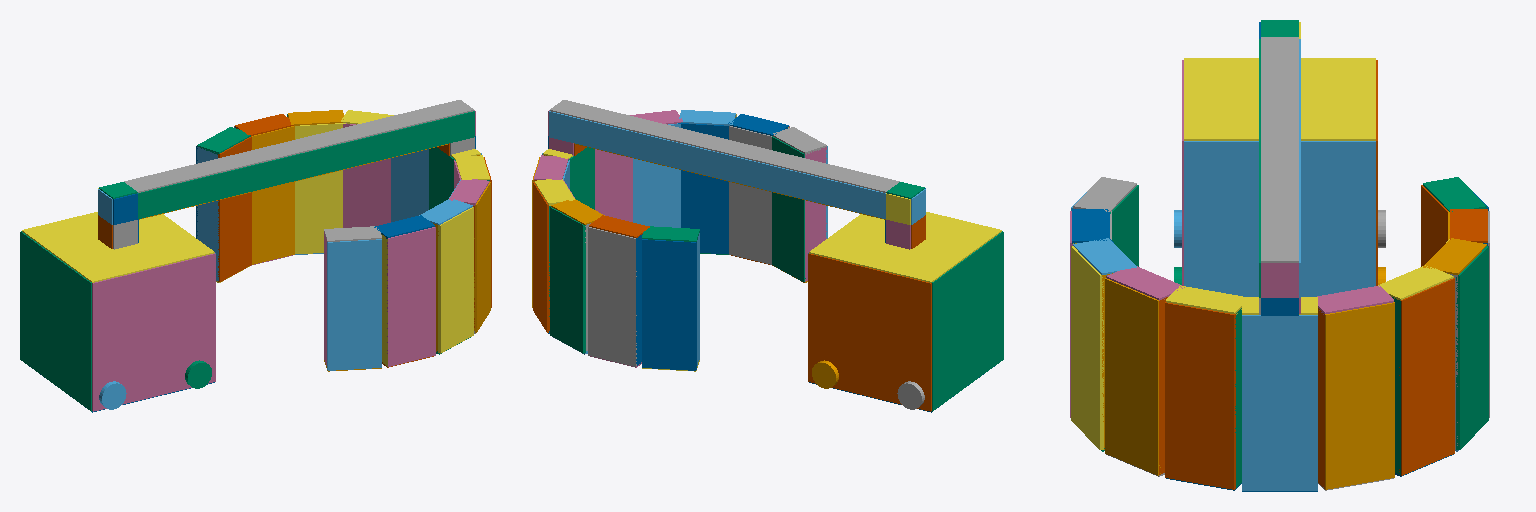
--- Facts derived from the render (not from the file) ---
Views: 3 orthographic renders of the robot side by side, from view 1: azimuth 30°, elevation 25°; view 2: azimuth 150°, elevation 25°; view 3: azimuth 270°, elevation 25°.
Model robot with 109 links and 108 joints (2 continuous, 106 fixed), rooted at body, posed all joints at 0.
Links seen in each view (by area): view 1: body_sensor_0_right, body_sensor_0_stop, arm_sensor_0_right, hand_part_11_sensor_0_left, body_sensor_0_top, hand_part_12_sensor_0_left, arm_sensor_0_top, hand_part_13_sensor_0_left, hand_part_4_sensor_0_right, hand_part_3_sensor_0_right, hand_part_2_sensor_0_right, hand_part_5_sensor_0_right (+17 smaller); view 2: body_sensor_0_left, body_sensor_0_stop, arm_sensor_0_left, hand_part_5_sensor_0_left, body_sensor_0_top, hand_part_4_sensor_0_left, arm_sensor_0_top, hand_part_3_sensor_0_left, hand_part_12_sensor_0_right, hand_part_13_sensor_0_right, hand_part_14_sensor_0_right, hand_part_11_sensor_0_right (+17 smaller); view 3: body_sensor_0_start, hand_part_0_sensor_0_start, hand_part_15_sensor_0_left, body_sensor_0_top, hand_part_1_sensor_0_left, hand_part_2_sensor_0_left, hand_part_14_sensor_0_left, arm_sensor_0_top, hand_part_3_sensor_0_left, hand_part_13_sensor_0_left, hand_part_11_sensor_0_right, hand_part_5_sensor_0_right (+18 smaller).
Boxes of the visible links, bbox=[...] form: body_sensor_0_right: bbox=[92, 253, 215, 411]; body_sensor_0_stop: bbox=[20, 231, 91, 411]; arm_sensor_0_right: bbox=[138, 111, 474, 218]; hand_part_11_sensor_0_left: bbox=[327, 239, 381, 370]; body_sensor_0_top: bbox=[22, 212, 214, 282]; hand_part_12_sensor_0_left: bbox=[387, 227, 435, 366]; arm_sensor_0_top: bbox=[124, 100, 473, 192]; hand_part_13_sensor_0_left: bbox=[438, 207, 473, 353]; hand_part_4_sensor_0_right: bbox=[252, 126, 294, 264]; hand_part_3_sensor_0_right: bbox=[295, 123, 345, 253]; hand_part_2_sensor_0_right: bbox=[343, 123, 390, 227]; hand_part_5_sensor_0_right: bbox=[218, 136, 251, 281]; body_sensor_0_left: bbox=[808, 253, 931, 411]; body_sensor_0_stop: bbox=[932, 231, 1003, 411]; arm_sensor_0_left: bbox=[549, 111, 885, 218]; hand_part_5_sensor_0_left: bbox=[642, 239, 696, 370]; body_sensor_0_top: bbox=[809, 212, 1001, 282]; hand_part_4_sensor_0_left: bbox=[588, 227, 636, 366]; arm_sensor_0_top: bbox=[550, 100, 899, 192]; hand_part_3_sensor_0_left: bbox=[550, 207, 585, 353]; hand_part_12_sensor_0_right: bbox=[729, 126, 771, 264]; hand_part_13_sensor_0_right: bbox=[678, 123, 728, 253]; hand_part_14_sensor_0_right: bbox=[633, 123, 680, 227]; hand_part_11_sensor_0_right: bbox=[772, 136, 805, 281]; body_sensor_0_start: bbox=[1184, 141, 1375, 296]; hand_part_0_sensor_0_start: bbox=[1242, 315, 1317, 490]; hand_part_15_sensor_0_left: bbox=[1165, 302, 1235, 489]; body_sensor_0_top: bbox=[1184, 58, 1375, 140]; hand_part_1_sensor_0_left: bbox=[1325, 302, 1394, 489]; hand_part_2_sensor_0_left: bbox=[1399, 278, 1454, 475]; hand_part_14_sensor_0_left: bbox=[1105, 278, 1160, 475]; arm_sensor_0_top: bbox=[1261, 37, 1298, 262]; hand_part_3_sensor_0_left: bbox=[1456, 246, 1488, 449]; hand_part_13_sensor_0_left: bbox=[1071, 246, 1103, 449]; hand_part_11_sensor_0_right: bbox=[1110, 185, 1138, 266]; hand_part_5_sensor_0_right: bbox=[1421, 185, 1447, 266].
Bounding box of the posed robot: 3.37 × 2.18 × 1.42 m (x, y, z).
Geometry: primitives only (box / cylinder / sphere), no mesh files.

URDF robot description (robot):
<?xml version="1.0"?>
    <robot name="robot">


    <!-- body -->
    <link name="body">
        <inertial>
            <origin xyz="0 0 0" rpy="0 0 0"/>
            <mass value="100"/>
            <inertia ixx=".1" ixy=".1" ixz=".1" iyy=".1" iyz=".1" izz=".1"/>
        </inertial>
        <visual>
            <origin xyz="0 0 0" rpy="0 0 0"/>
            <geometry>
                <box size="1 1 1"/>
            </geometry>
        </visual>
        <collision>
            <origin xyz="0 0 0" rpy="0 0 0"/>
            <geometry>
                <box size="1 1 1"/>
            </geometry>
        </collision>
    </link>


    <!-- body_sensor_0_start -->
    <link name="body_sensor_0_start">
        <inertial>
            <origin xyz="0 0 0" rpy="0 0 0"/>
            <mass value="0"/>
            <inertia ixx=".1" ixy=".1" ixz=".1" iyy=".1" iyz=".1" izz=".1"/>
        </inertial>
        <visual>
            <origin xyz="0 0 0" rpy="0 0 0"/>
            <geometry>
                <box size="0.02 1 1"/>
            </geometry>
        </visual>
        <collision>
            <origin xyz="0 0 0" rpy="0 0 0"/>
            <geometry>
                <box size="0.02 1 1"/>
            </geometry>
        </collision>
    </link>
    <!-- Joint: body, body_sensor_0_start -->
    <joint name="body_body_sensor_0_start_joint" type="fixed">
        <parent link="body"/>
        <child link="body_sensor_0_start"/>
        <origin xyz="0.5 0 0"
                rpy="0 0 0"/>
        <axis xyz="0 0 1"/>
        
    </joint>


    <!-- body_sensor_0_stop -->
    <link name="body_sensor_0_stop">
        <inertial>
            <origin xyz="0 0 0" rpy="0 0 0"/>
            <mass value="0"/>
            <inertia ixx=".1" ixy=".1" ixz=".1" iyy=".1" iyz=".1" izz=".1"/>
        </inertial>
        <visual>
            <origin xyz="0 0 0" rpy="0 0 0"/>
            <geometry>
                <box size="0.02 1 1"/>
            </geometry>
        </visual>
        <collision>
            <origin xyz="0 0 0" rpy="0 0 0"/>
            <geometry>
                <box size="0.02 1 1"/>
            </geometry>
        </collision>
    </link>
    <!-- Joint: body, body_sensor_0_stop -->
    <joint name="body_body_sensor_0_stop_joint" type="fixed">
        <parent link="body"/>
        <child link="body_sensor_0_stop"/>
        <origin xyz="-0.5 0 0"
                rpy="0 0 0"/>
        <axis xyz="0 0 1"/>
        
    </joint>


    <!-- body_sensor_0_top -->
    <link name="body_sensor_0_top">
        <inertial>
            <origin xyz="0 0 0" rpy="0 0 0"/>
            <mass value="0"/>
            <inertia ixx=".1" ixy=".1" ixz=".1" iyy=".1" iyz=".1" izz=".1"/>
        </inertial>
        <visual>
            <origin xyz="0 0 0" rpy="0 0 0"/>
            <geometry>
                <box size="1.0 1 0.02"/>
            </geometry>
        </visual>
        <collision>
            <origin xyz="0 0 0" rpy="0 0 0"/>
            <geometry>
                <box size="1.0 1 0.02"/>
            </geometry>
        </collision>
    </link>
    <!-- Joint: body, body_sensor_0_top -->
    <joint name="body_body_sensor_0_top_joint" type="fixed">
        <parent link="body"/>
        <child link="body_sensor_0_top"/>
        <origin xyz="0 0 0.5"
                rpy="0 0 0"/>
        <axis xyz="0 0 1"/>
        
    </joint>


    <!-- body_sensor_0_bottom -->
    <link name="body_sensor_0_bottom">
        <inertial>
            <origin xyz="0 0 0" rpy="0 0 0"/>
            <mass value="0"/>
            <inertia ixx=".1" ixy=".1" ixz=".1" iyy=".1" iyz=".1" izz=".1"/>
        </inertial>
        <visual>
            <origin xyz="0 0 0" rpy="0 0 0"/>
            <geometry>
                <box size="1.0 1 0.02"/>
            </geometry>
        </visual>
        <collision>
            <origin xyz="0 0 0" rpy="0 0 0"/>
            <geometry>
                <box size="1.0 1 0.02"/>
            </geometry>
        </collision>
    </link>
    <!-- Joint: body, body_sensor_0_bottom -->
    <joint name="body_body_sensor_0_bottom_joint" type="fixed">
        <parent link="body"/>
        <child link="body_sensor_0_bottom"/>
        <origin xyz="0 0 -0.5"
                rpy="0 0 0"/>
        <axis xyz="0 0 1"/>
        
    </joint>


    <!-- body_sensor_0_left -->
    <link name="body_sensor_0_left">
        <inertial>
            <origin xyz="0 0 0" rpy="0 0 0"/>
            <mass value="0"/>
            <inertia ixx=".1" ixy=".1" ixz=".1" iyy=".1" iyz=".1" izz=".1"/>
        </inertial>
        <visual>
            <origin xyz="0 0 0" rpy="0 0 0"/>
            <geometry>
                <box size="1.0 0.02 1"/>
            </geometry>
        </visual>
        <collision>
            <origin xyz="0 0 0" rpy="0 0 0"/>
            <geometry>
                <box size="1.0 0.02 1"/>
            </geometry>
        </collision>
    </link>
    <!-- Joint: body, body_sensor_0_left -->
    <joint name="body_body_sensor_0_left_joint" type="fixed">
        <parent link="body"/>
        <child link="body_sensor_0_left"/>
        <origin xyz="0 0.5 0"
                rpy="0 0 0"/>
        <axis xyz="0 0 1"/>
        
    </joint>


    <!-- body_sensor_0_right -->
    <link name="body_sensor_0_right">
        <inertial>
            <origin xyz="0 0 0" rpy="0 0 0"/>
            <mass value="0"/>
            <inertia ixx=".1" ixy=".1" ixz=".1" iyy=".1" iyz=".1" izz=".1"/>
        </inertial>
        <visual>
            <origin xyz="0 0 0" rpy="0 0 0"/>
            <geometry>
                <box size="1.0 0.02 1"/>
            </geometry>
        </visual>
        <collision>
            <origin xyz="0 0 0" rpy="0 0 0"/>
            <geometry>
                <box size="1.0 0.02 1"/>
            </geometry>
        </collision>
    </link>
    <!-- Joint: body, body_sensor_0_right -->
    <joint name="body_body_sensor_0_right_joint" type="fixed">
        <parent link="body"/>
        <child link="body_sensor_0_right"/>
        <origin xyz="0 -0.5 0"
                rpy="0 0 0"/>
        <axis xyz="0 0 1"/>
        
    </joint>


    <!-- back_left_wheel -->
    <link name="back_left_wheel">
        <inertial>
            <origin xyz="0 0 0" rpy="0 0 0"/>
            <mass value="0.1"/>
            <inertia ixx=".1" ixy=".1" ixz=".1" iyy=".1" iyz=".1" izz=".1"/>
        </inertial>
        <visual>
            <origin xyz="0 0 0" rpy="0 0 0"/>
            <geometry>
                <cylinder radius="0.1" length="0.1"/>
            </geometry>
        </visual>
        <collision>
            <origin xyz="0 0 0" rpy="0 0 0"/>
            <geometry>
                <cylinder radius="0.1" length="0.1"/>
            </geometry>
        </collision>
    </link>
    <!-- Joint: body, back_left_wheel -->
    <joint name="body_back_left_wheel_joint" type="fixed">
        <parent link="body"/>
        <child link="back_left_wheel"/>
        <origin xyz="-0.35 0.5 -0.4"
                rpy="1.5708 0 0"/>
        <axis xyz="1 0 0"/>
        
    </joint>


    <!-- from_left_wheel -->
    <link name="from_left_wheel">
        <inertial>
            <origin xyz="0 0 0" rpy="0 0 0"/>
            <mass value="0.1"/>
            <inertia ixx=".1" ixy=".1" ixz=".1" iyy=".1" iyz=".1" izz=".1"/>
        </inertial>
        <visual>
            <origin xyz="0 0 0" rpy="0 0 0"/>
            <geometry>
                <cylinder radius="0.1" length="0.1"/>
            </geometry>
        </visual>
        <collision>
            <origin xyz="0 0 0" rpy="0 0 0"/>
            <geometry>
                <cylinder radius="0.1" length="0.1"/>
            </geometry>
        </collision>
    </link>
    <!-- Joint: body, from_left_wheel -->
    <joint name="body_from_left_wheel_joint" type="fixed">
        <parent link="body"/>
        <child link="from_left_wheel"/>
        <origin xyz="0.35 0.5 -0.4"
                rpy="1.5708 0 0"/>
        <axis xyz="1 0 0"/>
        
    </joint>


    <!-- back_right_wheel -->
    <link name="back_right_wheel">
        <inertial>
            <origin xyz="0 0 0" rpy="0 0 0"/>
            <mass value="0.1"/>
            <inertia ixx=".1" ixy=".1" ixz=".1" iyy=".1" iyz=".1" izz=".1"/>
        </inertial>
        <visual>
            <origin xyz="0 0 0" rpy="0 0 0"/>
            <geometry>
                <cylinder radius="0.1" length="0.1"/>
            </geometry>
        </visual>
        <collision>
            <origin xyz="0 0 0" rpy="0 0 0"/>
            <geometry>
                <cylinder radius="0.1" length="0.1"/>
            </geometry>
        </collision>
    </link>
    <!-- Joint: body, back_right_wheel -->
    <joint name="body_back_right_wheel_joint" type="fixed">
        <parent link="body"/>
        <child link="back_right_wheel"/>
        <origin xyz="-0.35 -0.5 -0.4"
                rpy="1.5708 0 0"/>
        <axis xyz="1 0 0"/>
        
    </joint>


    <!-- from_right_wheel -->
    <link name="from_right_wheel">
        <inertial>
            <origin xyz="0 0 0" rpy="0 0 0"/>
            <mass value="0.1"/>
            <inertia ixx=".1" ixy=".1" ixz=".1" iyy=".1" iyz=".1" izz=".1"/>
        </inertial>
        <visual>
            <origin xyz="0 0 0" rpy="0 0 0"/>
            <geometry>
                <cylinder radius="0.1" length="0.1"/>
            </geometry>
        </visual>
        <collision>
            <origin xyz="0 0 0" rpy="0 0 0"/>
            <geometry>
                <cylinder radius="0.1" length="0.1"/>
            </geometry>
        </collision>
    </link>
    <!-- Joint: body, from_right_wheel -->
    <joint name="body_from_right_wheel_joint" type="fixed">
        <parent link="body"/>
        <child link="from_right_wheel"/>
        <origin xyz="0.35 -0.5 -0.4"
                rpy="1.5708 0 0"/>
        <axis xyz="1 0 0"/>
        
    </joint>


    <!-- joint_1 -->
    <link name="joint_1">
        <inertial>
            <origin xyz="0 0 0" rpy="0 0 0"/>
            <mass value="2"/>
            <inertia ixx=".1" ixy=".1" ixz=".1" iyy=".1" iyz=".1" izz=".1"/>
        </inertial>
        <visual>
            <origin xyz="0 0 0" rpy="0 0 0"/>
            <geometry>
                <box size="0.2 0.2 0.2"/>
            </geometry>
        </visual>
        <collision>
            <origin xyz="0 0 0" rpy="0 0 0"/>
            <geometry>
                <box size="0.2 0.2 0.2"/>
            </geometry>
        </collision>
    </link>


    <!-- joint_1_sensor_0_start -->
    <link name="joint_1_sensor_0_start">
        <inertial>
            <origin xyz="0 0 0" rpy="0 0 0"/>
            <mass value="0"/>
            <inertia ixx=".1" ixy=".1" ixz=".1" iyy=".1" iyz=".1" izz=".1"/>
        </inertial>
        <visual>
            <origin xyz="0 0 0" rpy="0 0 0"/>
            <geometry>
                <box size="0.02 0.2 0.2"/>
            </geometry>
        </visual>
        <collision>
            <origin xyz="0 0 0" rpy="0 0 0"/>
            <geometry>
                <box size="0.02 0.2 0.2"/>
            </geometry>
        </collision>
    </link>
    <!-- Joint: joint_1, joint_1_sensor_0_start -->
    <joint name="joint_1_joint_1_sensor_0_start_joint" type="fixed">
        <parent link="joint_1"/>
        <child link="joint_1_sensor_0_start"/>
        <origin xyz="0.1 0 0"
                rpy="0 0 0"/>
        <axis xyz="0 0 1"/>
        
    </joint>


    <!-- joint_1_sensor_0_stop -->
    <link name="joint_1_sensor_0_stop">
        <inertial>
            <origin xyz="0 0 0" rpy="0 0 0"/>
            <mass value="0"/>
            <inertia ixx=".1" ixy=".1" ixz=".1" iyy=".1" iyz=".1" izz=".1"/>
        </inertial>
        <visual>
            <origin xyz="0 0 0" rpy="0 0 0"/>
            <geometry>
                <box size="0.02 0.2 0.2"/>
            </geometry>
        </visual>
        <collision>
            <origin xyz="0 0 0" rpy="0 0 0"/>
            <geometry>
                <box size="0.02 0.2 0.2"/>
            </geometry>
        </collision>
    </link>
    <!-- Joint: joint_1, joint_1_sensor_0_stop -->
    <joint name="joint_1_joint_1_sensor_0_stop_joint" type="fixed">
        <parent link="joint_1"/>
        <child link="joint_1_sensor_0_stop"/>
        <origin xyz="-0.1 0 0"
                rpy="0 0 0"/>
        <axis xyz="0 0 1"/>
        
    </joint>


    <!-- joint_1_sensor_0_left -->
    <link name="joint_1_sensor_0_left">
        <inertial>
            <origin xyz="0 0 0" rpy="0 0 0"/>
            <mass value="0"/>
            <inertia ixx=".1" ixy=".1" ixz=".1" iyy=".1" iyz=".1" izz=".1"/>
        </inertial>
        <visual>
            <origin xyz="0 0 0" rpy="0 0 0"/>
            <geometry>
                <box size="0.2 0.02 0.2"/>
            </geometry>
        </visual>
        <collision>
            <origin xyz="0 0 0" rpy="0 0 0"/>
            <geometry>
                <box size="0.2 0.02 0.2"/>
            </geometry>
        </collision>
    </link>
    <!-- Joint: joint_1, joint_1_sensor_0_left -->
    <joint name="joint_1_joint_1_sensor_0_left_joint" type="fixed">
        <parent link="joint_1"/>
        <child link="joint_1_sensor_0_left"/>
        <origin xyz="0 0.1 0"
                rpy="0 0 0"/>
        <axis xyz="0 0 1"/>
        
    </joint>


    <!-- joint_1_sensor_0_right -->
    <link name="joint_1_sensor_0_right">
        <inertial>
            <origin xyz="0 0 0" rpy="0 0 0"/>
            <mass value="0"/>
            <inertia ixx=".1" ixy=".1" ixz=".1" iyy=".1" iyz=".1" izz=".1"/>
        </inertial>
        <visual>
            <origin xyz="0 0 0" rpy="0 0 0"/>
            <geometry>
                <box size="0.2 0.02 0.2"/>
            </geometry>
        </visual>
        <collision>
            <origin xyz="0 0 0" rpy="0 0 0"/>
            <geometry>
                <box size="0.2 0.02 0.2"/>
            </geometry>
        </collision>
    </link>
    <!-- Joint: joint_1, joint_1_sensor_0_right -->
    <joint name="joint_1_joint_1_sensor_0_right_joint" type="fixed">
        <parent link="joint_1"/>
        <child link="joint_1_sensor_0_right"/>
        <origin xyz="0 -0.1 0"
                rpy="0 0 0"/>
        <axis xyz="0 0 1"/>
        
    </joint>
    <!-- Joint: body, joint_1 -->
    <joint name="body_joint_1_joint" type="continuous">
        <parent link="body"/>
        <child link="joint_1"/>
        <origin xyz="0 0 0.6"
                rpy="0 0 0"/>
        <axis xyz="0 0 1"/>
        <limit lower="0" upper="0" effort="0" velocity="0"/>
    </joint>


    <!-- joint_2 -->
    <link name="joint_2">
        <inertial>
            <origin xyz="0 0 0" rpy="0 0 0"/>
            <mass value="2"/>
            <inertia ixx=".1" ixy=".1" ixz=".1" iyy=".1" iyz=".1" izz=".1"/>
        </inertial>
        <visual>
            <origin xyz="0 0 0" rpy="0 0 0"/>
            <geometry>
                <box size="0.2 0.2 0.2"/>
            </geometry>
        </visual>
        <collision>
            <origin xyz="0 0 0" rpy="0 0 0"/>
            <geometry>
                <box size="0.2 0.2 0.2"/>
            </geometry>
        </collision>
    </link>


    <!-- joint_2_sensor_0_stop -->
    <link name="joint_2_sensor_0_stop">
        <inertial>
            <origin xyz="0 0 0" rpy="0 0 0"/>
            <mass value="0"/>
            <inertia ixx=".1" ixy=".1" ixz=".1" iyy=".1" iyz=".1" izz=".1"/>
        </inertial>
        <visual>
            <origin xyz="0 0 0" rpy="0 0 0"/>
            <geometry>
                <box size="0.02 0.2 0.2"/>
            </geometry>
        </visual>
        <collision>
            <origin xyz="0 0 0" rpy="0 0 0"/>
            <geometry>
                <box size="0.02 0.2 0.2"/>
            </geometry>
        </collision>
    </link>
    <!-- Joint: joint_2, joint_2_sensor_0_stop -->
    <joint name="joint_2_joint_2_sensor_0_stop_joint" type="fixed">
        <parent link="joint_2"/>
        <child link="joint_2_sensor_0_stop"/>
        <origin xyz="-0.1 0 0"
                rpy="0 0 0"/>
        <axis xyz="0 1 0"/>
        
    </joint>


    <!-- joint_2_sensor_0_top -->
    <link name="joint_2_sensor_0_top">
        <inertial>
            <origin xyz="0 0 0" rpy="0 0 0"/>
            <mass value="0"/>
            <inertia ixx=".1" ixy=".1" ixz=".1" iyy=".1" iyz=".1" izz=".1"/>
        </inertial>
        <visual>
            <origin xyz="0 0 0" rpy="0 0 0"/>
            <geometry>
                <box size="0.2 0.2 0.02"/>
            </geometry>
        </visual>
        <collision>
            <origin xyz="0 0 0" rpy="0 0 0"/>
            <geometry>
                <box size="0.2 0.2 0.02"/>
            </geometry>
        </collision>
    </link>
    <!-- Joint: joint_2, joint_2_sensor_0_top -->
    <joint name="joint_2_joint_2_sensor_0_top_joint" type="fixed">
        <parent link="joint_2"/>
        <child link="joint_2_sensor_0_top"/>
        <origin xyz="0 0 0.1"
                rpy="0 0 0"/>
        <axis xyz="0 1 0"/>
        
    </joint>


    <!-- joint_2_sensor_0_left -->
    <link name="joint_2_sensor_0_left">
        <inertial>
            <origin xyz="0 0 0" rpy="0 0 0"/>
            <mass value="0"/>
            <inertia ixx=".1" ixy=".1" ixz=".1" iyy=".1" iyz=".1" izz=".1"/>
        </inertial>
        <visual>
            <origin xyz="0 0 0" rpy="0 0 0"/>
            <geometry>
                <box size="0.2 0.02 0.2"/>
            </geometry>
        </visual>
        <collision>
            <origin xyz="0 0 0" rpy="0 0 0"/>
            <geometry>
                <box size="0.2 0.02 0.2"/>
            </geometry>
        </collision>
    </link>
    <!-- Joint: joint_2, joint_2_sensor_0_left -->
    <joint name="joint_2_joint_2_sensor_0_left_joint" type="fixed">
        <parent link="joint_2"/>
        <child link="joint_2_sensor_0_left"/>
        <origin xyz="0 0.1 0"
                rpy="0 0 0"/>
        <axis xyz="0 1 0"/>
        
    </joint>


    <!-- joint_2_sensor_0_right -->
    <link name="joint_2_sensor_0_right">
        <inertial>
            <origin xyz="0 0 0" rpy="0 0 0"/>
            <mass value="0"/>
            <inertia ixx=".1" ixy=".1" ixz=".1" iyy=".1" iyz=".1" izz=".1"/>
        </inertial>
        <visual>
            <origin xyz="0 0 0" rpy="0 0 0"/>
            <geometry>
                <box size="0.2 0.02 0.2"/>
            </geometry>
        </visual>
        <collision>
            <origin xyz="0 0 0" rpy="0 0 0"/>
            <geometry>
                <box size="0.2 0.02 0.2"/>
            </geometry>
        </collision>
    </link>
    <!-- Joint: joint_2, joint_2_sensor_0_right -->
    <joint name="joint_2_joint_2_sensor_0_right_joint" type="fixed">
        <parent link="joint_2"/>
        <child link="joint_2_sensor_0_right"/>
        <origin xyz="0 -0.1 0"
                rpy="0 0 0"/>
        <axis xyz="0 1 0"/>
        
    </joint>
    <!-- Joint: joint_1, joint_2 -->
    <joint name="joint_1_joint_2_joint" type="continuous">
        <parent link="joint_1"/>
        <child link="joint_2"/>
        <origin xyz="0 0 0.2"
                rpy="0 0 0"/>
        <axis xyz="0 1 0"/>
        <limit lower="0" upper="0" effort="0" velocity="0"/>
    </joint>


    <!-- arm -->
    <link name="arm">
        <inertial>
            <origin xyz="0 0 0" rpy="0 0 0"/>
            <mass value="2"/>
            <inertia ixx=".1" ixy=".1" ixz=".1" iyy=".1" iyz=".1" izz=".1"/>
        </inertial>
        <visual>
            <origin xyz="0 0 0" rpy="0 0 0"/>
            <geometry>
                <box size="2.75 0.2 0.2"/>
            </geometry>
        </visual>
        <collision>
            <origin xyz="0 0 0" rpy="0 0 0"/>
            <geometry>
                <box size="2.75 0.2 0.2"/>
            </geometry>
        </collision>
    </link>


    <!-- arm_sensor_0_start -->
    <link name="arm_sensor_0_start">
        <inertial>
            <origin xyz="0 0 0" rpy="0 0 0"/>
            <mass value="0"/>
            <inertia ixx=".1" ixy=".1" ixz=".1" iyy=".1" iyz=".1" izz=".1"/>
        </inertial>
        <visual>
            <origin xyz="0 0 0" rpy="0 0 0"/>
            <geometry>
                <box size="0.02 0.2 0.2"/>
            </geometry>
        </visual>
        <collision>
            <origin xyz="0 0 0" rpy="0 0 0"/>
            <geometry>
                <box size="0.02 0.2 0.2"/>
            </geometry>
        </collision>
    </link>
    <!-- Joint: arm, arm_sensor_0_start -->
    <joint name="arm_arm_sensor_0_start_joint" type="fixed">
        <parent link="arm"/>
        <child link="arm_sensor_0_start"/>
        <origin xyz="1.375 0 0"
                rpy="0 0 0"/>
        <axis xyz="0 1 0"/>
        
    </joint>


    <!-- arm_sensor_0_top -->
    <link name="arm_sensor_0_top">
        <inertial>
            <origin xyz="0 0 0" rpy="0 0 0"/>
            <mass value="0"/>
            <inertia ixx=".1" ixy=".1" ixz=".1" iyy=".1" iyz=".1" izz=".1"/>
        </inertial>
        <visual>
            <origin xyz="0 0 0" rpy="0 0 0"/>
            <geometry>
                <box size="2.75 0.2 0.02"/>
            </geometry>
        </visual>
        <collision>
            <origin xyz="0 0 0" rpy="0 0 0"/>
            <geometry>
                <box size="2.75 0.2 0.02"/>
            </geometry>
        </collision>
    </link>
    <!-- Joint: arm, arm_sensor_0_top -->
    <joint name="arm_arm_sensor_0_top_joint" type="fixed">
        <parent link="arm"/>
        <child link="arm_sensor_0_top"/>
        <origin xyz="0 0 0.1"
                rpy="0 0 0"/>
        <axis xyz="0 1 0"/>
        
    </joint>


    <!-- arm_sensor_0_bottom -->
    <link name="arm_sensor_0_bottom">
        <inertial>
            <origin xyz="0 0 0" rpy="0 0 0"/>
            <mass value="0"/>
            <inertia ixx=".1" ixy=".1" ixz=".1" iyy=".1" iyz=".1" izz=".1"/>
        </inertial>
        <visual>
            <origin xyz="0 0 0" rpy="0 0 0"/>
            <geometry>
                <box size="2.75 0.2 0.02"/>
            </geometry>
        </visual>
        <collision>
            <origin xyz="0 0 0" rpy="0 0 0"/>
            <geometry>
                <box size="2.75 0.2 0.02"/>
            </geometry>
        </collision>
    </link>
    <!-- Joint: arm, arm_sensor_0_bottom -->
    <joint name="arm_arm_sensor_0_bottom_joint" type="fixed">
        <parent link="arm"/>
        <child link="arm_sensor_0_bottom"/>
        <origin xyz="0 0 -0.1"
                rpy="0 0 0"/>
        <axis xyz="0 1 0"/>
        
    </joint>


    <!-- arm_sensor_0_left -->
    <link name="arm_sensor_0_left">
        <inertial>
            <origin xyz="0 0 0" rpy="0 0 0"/>
            <mass value="0"/>
            <inertia ixx=".1" ixy=".1" ixz=".1" iyy=".1" iyz=".1" izz=".1"/>
        </inertial>
        <visual>
            <origin xyz="0 0 0" rpy="0 0 0"/>
            <geometry>
                <box size="2.75 0.02 0.2"/>
            </geometry>
        </visual>
        <collision>
            <origin xyz="0 0 0" rpy="0 0 0"/>
            <geometry>
                <box size="2.75 0.02 0.2"/>
            </geometry>
        </collision>
    </link>
    <!-- Joint: arm, arm_sensor_0_left -->
    <joint name="arm_arm_sensor_0_left_joint" type="fixed">
        <parent link="arm"/>
        <child link="arm_sensor_0_left"/>
        <origin xyz="0 0.1 0"
                rpy="0 0 0"/>
        <axis xyz="0 1 0"/>
        
    </joint>


    <!-- arm_sensor_0_right -->
    <link name="arm_sensor_0_right">
        <inertial>
            <origin xyz="0 0 0" rpy="0 0 0"/>
            <mass value="0"/>
            <inertia ixx=".1" ixy=".1" ixz=".1" iyy=".1" iyz=".1" izz=".1"/>
        </inertial>
        <visual>
            <origin xyz="0 0 0" rpy="0 0 0"/>
            <geometry>
                <box size="2.75 0.02 0.2"/>
            </geometry>
        </visual>
        <collision>
            <origin xyz="0 0 0" rpy="0 0 0"/>
            <geometry>
                <box size="2.75 0.02 0.2"/>
            </geometry>
        </collision>
    </link>
    <!-- Joint: arm, arm_sensor_0_right -->
    <joint name="arm_arm_sensor_0_right_joint" type="fixed">
        <parent link="arm"/>
        <child link="arm_sensor_0_right"/>
        <origin xyz="0 -0.1 0"
                rpy="0 0 0"/>
        <axis xyz="0 1 0"/>
        
    </joint>
    <!-- Joint: joint_2, arm -->
    <joint name="joint_2_arm_joint" type="fixed">
        <parent link="joint_2"/>
        <child link="arm"/>
        <origin xyz="1.475 0 0"
                rpy="0 0 0"/>
        <axis xyz="0 1 0"/>
        
    </joint>


    <!-- wrist -->
    <link name="wrist">
        <inertial>
            <origin xyz="0 0 0" rpy="0 0 0"/>
            <mass value="2"/>
            <inertia ixx=".1" ixy=".1" ixz=".1" iyy=".1" iyz=".1" izz=".1"/>
        </inertial>
        <visual>
            <origin xyz="0 0 0" rpy="0 0 0"/>
            <geometry>
                <box size="0.2 0.2 0.1"/>
            </geometry>
        </visual>
        <collision>
            <origin xyz="0 0 0" rpy="0 0 0"/>
            <geometry>
                <box size="0.2 0.2 0.1"/>
            </geometry>
        </collision>
    </link>


    <!-- wrist_sensor_0_start -->
    <link name="wrist_sensor_0_start">
        <inertial>
            <origin xyz="0 0 0" rpy="0 0 0"/>
            <mass value="0"/>
            <inertia ixx=".1" ixy=".1" ixz=".1" iyy=".1" iyz=".1" izz=".1"/>
        </inertial>
        <visual>
            <origin xyz="0 0 0" rpy="0 0 0"/>
            <geometry>
                <box size="0.02 0.2 0.1"/>
            </geometry>
        </visual>
        <collision>
            <origin xyz="0 0 0" rpy="0 0 0"/>
            <geometry>
                <box size="0.02 0.2 0.1"/>
            </geometry>
        </collision>
    </link>
    <!-- Joint: wrist, wrist_sensor_0_start -->
    <joint name="wrist_wrist_sensor_0_start_joint" type="fixed">
        <parent link="wrist"/>
        <child link="wrist_sensor_0_start"/>
        <origin xyz="0.1 0 0"
                rpy="0 0 0"/>
        <axis xyz="0 1 0"/>
        
    </joint>


    <!-- wrist_sensor_0_stop -->
    <link name="wrist_sensor_0_stop">
        <inertial>
            <origin xyz="0 0 0" rpy="0 0 0"/>
            <mass value="0"/>
            <inertia ixx=".1" ixy=".1" ixz=".1" iyy=".1" iyz=".1" izz=".1"/>
        </inertial>
        <visual>
            <origin xyz="0 0 0" rpy="0 0 0"/>
            <geometry>
                <box size="0.02 0.2 0.1"/>
            </geometry>
        </visual>
        <collision>
            <origin xyz="0 0 0" rpy="0 0 0"/>
            <geometry>
                <box size="0.02 0.2 0.1"/>
            </geometry>
        </collision>
    </link>
    <!-- Joint: wrist, wrist_sensor_0_stop -->
    <joint name="wrist_wrist_sensor_0_stop_joint" type="fixed">
        <parent link="wrist"/>
        <child link="wrist_sensor_0_stop"/>
        <origin xyz="-0.1 0 0"
                rpy="0 0 0"/>
        <axis xyz="0 1 0"/>
        
    </joint>


    <!-- wrist_sensor_0_left -->
    <link name="wrist_sensor_0_left">
        <inertial>
            <origin xyz="0 0 0" rpy="0 0 0"/>
            <mass value="0"/>
            <inertia ixx=".1" ixy=".1" ixz=".1" iyy=".1" iyz=".1" izz=".1"/>
        </inertial>
        <visual>
            <origin xyz="0 0 0" rpy="0 0 0"/>
            <geometry>
                <box size="0.2 0.02 0.1"/>
            </geometry>
        </visual>
        <collision>
            <origin xyz="0 0 0" rpy="0 0 0"/>
            <geometry>
                <box size="0.2 0.02 0.1"/>
            </geometry>
        </collision>
    </link>
    <!-- Joint: wrist, wrist_sensor_0_left -->
    <joint name="wrist_wrist_sensor_0_left_joint" type="fixed">
        <parent link="wrist"/>
        <child link="wrist_sensor_0_left"/>
        <origin xyz="0 0.1 0"
                rpy="0 0 0"/>
        <axis xyz="0 1 0"/>
        
    </joint>


    <!-- wrist_sensor_0_right -->
    <link name="wrist_sensor_0_right">
        <inertial>
            <origin xyz="0 0 0" rpy="0 0 0"/>
            <mass value="0"/>
            <inertia ixx=".1" ixy=".1" ixz=".1" iyy=".1" iyz=".1" izz=".1"/>
        </inertial>
        <visual>
            <origin xyz="0 0 0" rpy="0 0 0"/>
            <geometry>
                <box size="0.2 0.02 0.1"/>
            </geometry>
        </visual>
        <collision>
            <origin xyz="0 0 0" rpy="0 0 0"/>
            <geometry>
                <box size="0.2 0.02 0.1"/>
            </geometry>
        </collision>
    </link>
    <!-- Joint: wrist, wrist_sensor_0_right -->
    <joint name="wrist_wrist_sensor_0_right_joint" type="fixed">
        <parent link="wrist"/>
        <child link="wrist_sensor_0_right"/>
        <origin xyz="0 -0.1 0"
                rpy="0 0 0"/>
        <axis xyz="0 1 0"/>
        
    </joint>
    <!-- Joint: arm, wrist -->
    <joint name="arm_wrist_joint" type="fixed">
        <parent link="arm"/>
        <child link="wrist"/>
        <origin xyz="1.275 0 -0.15000000000000002"
                rpy="0 0 0"/>
        <axis xyz="0 1 0"/>
        
    </joint>


    <!-- hand_part_0 -->
    <link name="hand_part_0">
        <inertial>
            <origin xyz="0 0 0" rpy="0 0 0"/>
            <mass value="2"/>
            <inertia ixx=".1" ixy=".1" ixz=".1" iyy=".1" iyz=".1" izz=".1"/>
        </inertial>
        <visual>
            <origin xyz="0 0 0" rpy="0 0 0"/>
            <geometry>
                <box size="0.2 0.3901806440322565 1"/>
            </geometry>
        </visual>
        <collision>
            <origin xyz="0 0 0" rpy="0 0 0"/>
            <geometry>
                <box size="0.2 0.3901806440322565 1"/>
            </geometry>
        </collision>
    </link>


    <!-- hand_part_0_sensor_0_start -->
    <link name="hand_part_0_sensor_0_start">
        <inertial>
            <origin xyz="0 0 0" rpy="0 0 0"/>
            <mass value="0"/>
            <inertia ixx=".1" ixy=".1" ixz=".1" iyy=".1" iyz=".1" izz=".1"/>
        </inertial>
        <visual>
            <origin xyz="0 0 0" rpy="0 0 0"/>
            <geometry>
                <box size="0.02 0.3901806440322565 1"/>
            </geometry>
        </visual>
        <collision>
            <origin xyz="0 0 0" rpy="0 0 0"/>
            <geometry>
                <box size="0.02 0.3901806440322565 1"/>
            </geometry>
        </collision>
    </link>
    <!-- Joint: hand_part_0, hand_part_0_sensor_0_start -->
    <joint name="hand_part_0_hand_part_0_sensor_0_start_joint" type="fixed">
        <parent link="hand_part_0"/>
        <child link="hand_part_0_sensor_0_start"/>
        <origin xyz="0.1 0 0"
                rpy="0 0 0"/>
        <axis xyz="0 1 0"/>
        
    </joint>


    <!-- hand_part_0_sensor_0_stop -->
    <link name="hand_part_0_sensor_0_stop">
        <inertial>
            <origin xyz="0 0 0" rpy="0 0 0"/>
            <mass value="0"/>
            <inertia ixx=".1" ixy=".1" ixz=".1" iyy=".1" iyz=".1" izz=".1"/>
        </inertial>
        <visual>
            <origin xyz="0 0 0" rpy="0 0 0"/>
            <geometry>
                <box size="0.02 0.3901806440322565 1"/>
            </geometry>
        </visual>
        <collision>
            <origin xyz="0 0 0" rpy="0 0 0"/>
            <geometry>
                <box size="0.02 0.3901806440322565 1"/>
            </geometry>
        </collision>
    </link>
    <!-- Joint: hand_part_0, hand_part_0_sensor_0_stop -->
    <joint name="hand_part_0_hand_part_0_sensor_0_stop_joint" type="fixed">
        <parent link="hand_part_0"/>
        <child link="hand_part_0_sensor_0_stop"/>
        <origin xyz="-0.1 0 0"
                rpy="0 0 0"/>
        <axis xyz="0 1 0"/>
        
    </joint>


    <!-- hand_part_0_sensor_0_top -->
    <link name="hand_part_0_sensor_0_top">
        <inertial>
            <origin xyz="0 0 0" rpy="0 0 0"/>
            <mass value="0"/>
            <inertia ixx=".1" ixy=".1" ixz=".1" iyy=".1" iyz=".1" izz=".1"/>
        </inertial>
        <visual>
            <origin xyz="0 0 0" rpy="0 0 0"/>
            <geometry>
                <box size="0.2 0.3901806440322565 0.02"/>
            </geometry>
        </visual>
        <collision>
            <origin xyz="0 0 0" rpy="0 0 0"/>
            <geometry>
                <box size="0.2 0.3901806440322565 0.02"/>
            </geometry>
        </collision>
    </link>
    <!-- Joint: hand_part_0, hand_part_0_sensor_0_top -->
    <joint name="hand_part_0_hand_part_0_sensor_0_top_joint" type="fixed">
        <parent link="hand_part_0"/>
        <child link="hand_part_0_sensor_0_top"/>
        <origin xyz="0 0 0.5"
                rpy="0 0 0"/>
        <axis xyz="0 1 0"/>
        
    </joint>


    <!-- hand_part_0_sensor_0_bottom -->
    <link name="hand_part_0_sensor_0_bottom">
        <inertial>
            <origin xyz="0 0 0" rpy="0 0 0"/>
            <mass value="0"/>
            <inertia ixx=".1" ixy=".1" ixz=".1" iyy=".1" iyz=".1" izz=".1"/>
        </inertial>
        <visual>
            <origin xyz="0 0 0" rpy="0 0 0"/>
            <geometry>
                <box size="0.2 0.3901806440322565 0.02"/>
            </geometry>
        </visual>
        <collision>
            <origin xyz="0 0 0" rpy="0 0 0"/>
            <geometry>
                <box size="0.2 0.3901806440322565 0.02"/>
            </geometry>
        </collision>
    </link>
    <!-- Joint: hand_part_0, hand_part_0_sensor_0_bottom -->
    <joint name="hand_part_0_hand_part_0_sensor_0_bottom_joint" type="fixed">
        <parent link="hand_part_0"/>
        <child link="hand_part_0_sensor_0_bottom"/>
        <origin xyz="0 0 -0.5"
                rpy="0 0 0"/>
        <axis xyz="0 1 0"/>
        
    </joint>
    <!-- Joint: wrist, hand_part_0 -->
    <joint name="wrist_hand_part_0_joint" type="fixed">
        <parent link="wrist"/>
        <child link="hand_part_0"/>
        <origin xyz="0 0 -0.55"
                rpy="0 0 0"/>
        <axis xyz="0 1 0"/>
        
    </joint>


    <!-- hand_part_1 -->
    <link name="hand_part_1">
        <inertial>
            <origin xyz="0 0 0" rpy="0 0 0"/>
            <mass value="2"/>
            <inertia ixx=".1" ixy=".1" ixz=".1" iyy=".1" iyz=".1" izz=".1"/>
        </inertial>
        <visual>
            <origin xyz="0 0 0" rpy="0 0 0"/>
            <geometry>
                <box size="0.3901806440322565 0.2 1"/>
            </geometry>
        </visual>
        <collision>
            <origin xyz="0 0 0" rpy="0 0 0"/>
            <geometry>
                <box size="0.3901806440322565 0.2 1"/>
            </geometry>
        </collision>
    </link>


    <!-- hand_part_1_sensor_0_top -->
    <link name="hand_part_1_sensor_0_top">
        <inertial>
            <origin xyz="0 0 0" rpy="0 0 0"/>
            <mass value="0"/>
            <inertia ixx=".1" ixy=".1" ixz=".1" iyy=".1" iyz=".1" izz=".1"/>
        </inertial>
        <visual>
            <origin xyz="0 0 0" rpy="0 0 0"/>
            <geometry>
                <box size="0.3901806440322565 0.2 0.02"/>
            </geometry>
        </visual>
        <collision>
            <origin xyz="0 0 0" rpy="0 0 0"/>
            <geometry>
                <box size="0.3901806440322565 0.2 0.02"/>
            </geometry>
        </collision>
    </link>
    <!-- Joint: hand_part_1, hand_part_1_sensor_0_top -->
    <joint name="hand_part_1_hand_part_1_sensor_0_top_joint" type="fixed">
        <parent link="hand_part_1"/>
        <child link="hand_part_1_sensor_0_top"/>
        <origin xyz="0 0 0.5"
                rpy="0 0 0"/>
        <axis xyz="0 1 0"/>
        
    </joint>


    <!-- hand_part_1_sensor_0_bottom -->
    <link name="hand_part_1_sensor_0_bottom">
        <inertial>
            <origin xyz="0 0 0" rpy="0 0 0"/>
            <mass value="0"/>
            <inertia ixx=".1" ixy=".1" ixz=".1" iyy=".1" iyz=".1" izz=".1"/>
        </inertial>
        <visual>
            <origin xyz="0 0 0" rpy="0 0 0"/>
            <geometry>
                <box size="0.3901806440322565 0.2 0.02"/>
            </geometry>
        </visual>
        <collision>
            <origin xyz="0 0 0" rpy="0 0 0"/>
            <geometry>
                <box size="0.3901806440322565 0.2 0.02"/>
            </geometry>
        </collision>
    </link>
    <!-- Joint: hand_part_1, hand_part_1_sensor_0_bottom -->
    <joint name="hand_part_1_hand_part_1_sensor_0_bottom_joint" type="fixed">
        <parent link="hand_part_1"/>
        <child link="hand_part_1_sensor_0_bottom"/>
        <origin xyz="0 0 -0.5"
                rpy="0 0 0"/>
        <axis xyz="0 1 0"/>
        
    </joint>


    <!-- hand_part_1_sensor_0_left -->
    <link name="hand_part_1_sensor_0_left">
        <inertial>
            <origin xyz="0 0 0" rpy="0 0 0"/>
            <mass value="0"/>
            <inertia ixx=".1" ixy=".1" ixz=".1" iyy=".1" iyz=".1" izz=".1"/>
        </inertial>
        <visual>
            <origin xyz="0 0 0" rpy="0 0 0"/>
            <geometry>
                <box size="0.3901806440322565 0.02 1"/>
            </geometry>
        </visual>
        <collision>
            <origin xyz="0 0 0" rpy="0 0 0"/>
            <geometry>
                <box size="0.3901806440322565 0.02 1"/>
            </geometry>
        </collision>
    </link>
    <!-- Joint: hand_part_1, hand_part_1_sensor_0_left -->
    <joint name="hand_part_1_hand_part_1_sensor_0_left_joint" type="fixed">
        <parent link="hand_part_1"/>
        <child link="hand_part_1_sensor_0_left"/>
        <origin xyz="0 0.1 0"
                rpy="0 0 0"/>
        <axis xyz="0 1 0"/>
        
    </joint>


    <!-- hand_part_1_sensor_0_right -->
    <link name="hand_part_1_sensor_0_right">
        <inertial>
            <origin xyz="0 0 0" rpy="0 0 0"/>
            <mass value="0"/>
            <inertia ixx=".1" ixy=".1" ixz=".1" iyy=".1" iyz=".1" izz=".1"/>
        </inertial>
        <visual>
            <origin xyz="0 0 0" rpy="0 0 0"/>
            <geometry>
                <box size="0.3901806440322565 0.02 1"/>
            </geometry>
        </visual>
        <collision>
            <origin xyz="0 0 0" rpy="0 0 0"/>
            <geometry>
                <box size="0.3901806440322565 0.02 1"/>
            </geometry>
        </collision>
    </link>
    <!-- Joint: hand_part_1, hand_part_1_sensor_0_right -->
    <joint name="hand_part_1_hand_part_1_sensor_0_right_joint" type="fixed">
        <parent link="hand_part_1"/>
        <child link="hand_part_1_sensor_0_right"/>
        <origin xyz="0 -0.1 0"
                rpy="0 0 0"/>
        <axis xyz="0 1 0"/>
        
    </joint>
    <!-- Joint: hand_part_0, hand_part_1 -->
    <joint name="hand_part_0_hand_part_1_joint" type="fixed">
        <parent link="hand_part_0"/>
        <child link="hand_part_1"/>
        <origin xyz="-0.07465783405034261 0.3753302775178652 0"
                rpy="0 0 -1.1780972450961724"/>
        <axis xyz="0 1 0"/>
        
    </joint>


    <!-- hand_part_2 -->
    <link name="hand_part_2">
        <inertial>
            <origin xyz="0 0 0" rpy="0 0 0"/>
            <mass value="2"/>
            <inertia ixx=".1" ixy=".1" ixz=".1" iyy=".1" iyz=".1" izz=".1"/>
        </inertial>
        <visual>
            <origin xyz="0 0 0" rpy="0 0 0"/>
            <geometry>
                <box size="0.3901806440322565 0.2 1"/>
            </geometry>
        </visual>
        <collision>
            <origin xyz="0 0 0" rpy="0 0 0"/>
            <geometry>
                <box size="0.3901806440322565 0.2 1"/>
            </geometry>
        </collision>
    </link>


    <!-- hand_part_2_sensor_0_top -->
    <link name="hand_part_2_sensor_0_top">
        <inertial>
            <origin xyz="0 0 0" rpy="0 0 0"/>
            <mass value="0"/>
            <inertia ixx=".1" ixy=".1" ixz=".1" iyy=".1" iyz=".1" izz=".1"/>
        </inertial>
        <visual>
            <origin xyz="0 0 0" rpy="0 0 0"/>
            <geometry>
                <box size="0.3901806440322565 0.2 0.02"/>
            </geometry>
        </visual>
        <collision>
            <origin xyz="0 0 0" rpy="0 0 0"/>
            <geometry>
                <box size="0.3901806440322565 0.2 0.02"/>
            </geometry>
        </collision>
    </link>
    <!-- Joint: hand_part_2, hand_part_2_sensor_0_top -->
    <joint name="hand_part_2_hand_part_2_sensor_0_top_joint" type="fixed">
        <parent link="hand_part_2"/>
        <child link="hand_part_2_sensor_0_top"/>
        <origin xyz="0 0 0.5"
                rpy="0 0 0"/>
        <axis xyz="0 1 0"/>
        
    </joint>


    <!-- hand_part_2_sensor_0_bottom -->
    <link name="hand_part_2_sensor_0_bottom">
        <inertial>
            <origin xyz="0 0 0" rpy="0 0 0"/>
            <mass value="0"/>
            <inertia ixx=".1" ixy=".1" ixz=".1" iyy=".1" iyz=".1" izz=".1"/>
        </inertial>
        <visual>
            <origin xyz="0 0 0" rpy="0 0 0"/>
            <geometry>
                <box size="0.3901806440322565 0.2 0.02"/>
            </geometry>
        </visual>
        <collision>
            <origin xyz="0 0 0" rpy="0 0 0"/>
            <geometry>
                <box size="0.3901806440322565 0.2 0.02"/>
            </geometry>
        </collision>
    </link>
    <!-- Joint: hand_part_2, hand_part_2_sensor_0_bottom -->
    <joint name="hand_part_2_hand_part_2_sensor_0_bottom_joint" type="fixed">
        <parent link="hand_part_2"/>
        <child link="hand_part_2_sensor_0_bottom"/>
        <origin xyz="0 0 -0.5"
                rpy="0 0 0"/>
        <axis xyz="0 1 0"/>
        
    </joint>


    <!-- hand_part_2_sensor_0_left -->
    <link name="hand_part_2_sensor_0_left">
        <inertial>
            <origin xyz="0 0 0" rpy="0 0 0"/>
            <mass value="0"/>
            <inertia ixx=".1" ixy=".1" ixz=".1" iyy=".1" iyz=".1" izz=".1"/>
        </inertial>
        <visual>
            <origin xyz="0 0 0" rpy="0 0 0"/>
            <geometry>
                <box size="0.3901806440322565 0.02 1"/>
            </geometry>
        </visual>
        <collision>
            <origin xyz="0 0 0" rpy="0 0 0"/>
            <geometry>
                <box size="0.3901806440322565 0.02 1"/>
            </geometry>
        </collision>
    </link>
    <!-- Joint: hand_part_2, hand_part_2_sensor_0_left -->
    <joint name="hand_part_2_hand_part_2_sensor_0_left_joint" type="fixed">
        <parent link="hand_part_2"/>
        <child link="hand_part_2_sensor_0_left"/>
        <origin xyz="0 0.1 0"
                rpy="0 0 0"/>
        <axis xyz="0 1 0"/>
        
    </joint>


    <!-- hand_part_2_sensor_0_right -->
    <link name="hand_part_2_sensor_0_right">
        <inertial>
            <origin xyz="0 0 0" rpy="0 0 0"/>
            <mass value="0"/>
            <inertia ixx=".1" ixy=".1" ixz=".1" iyy=".1" iyz=".1" izz=".1"/>
        </inertial>
        <visual>
            <origin xyz="0 0 0" rpy="0 0 0"/>
            <geometry>
                <box size="0.3901806440322565 0.02 1"/>
            </geometry>
        </visual>
        <collision>
            <origin xyz="0 0 0" rpy="0 0 0"/>
            <geometry>
                <box size="0.3901806440322565 0.02 1"/>
            </geometry>
        </collision>
    </link>
    <!-- Joint: hand_part_2, hand_part_2_sensor_0_right -->
    <joint name="hand_part_2_hand_part_2_sensor_0_right_joint" type="fixed">
        <parent link="hand_part_2"/>
        <child link="hand_part_2_sensor_0_right"/>
        <origin xyz="0 -0.1 0"
                rpy="0 0 0"/>
        <axis xyz="0 1 0"/>
        
    </joint>
    <!-- Joint: hand_part_0, hand_part_2 -->
    <joint name="hand_part_0_hand_part_2_joint" type="fixed">
        <parent link="hand_part_0"/>
        <child link="hand_part_2"/>
        <origin xyz="-0.2872653577421566 0.6935199226610735 0"
                rpy="0 0 -0.7853981633974483"/>
        <axis xyz="0 1 0"/>
        
    </joint>


    <!-- hand_part_3 -->
    <link name="hand_part_3">
        <inertial>
            <origin xyz="0 0 0" rpy="0 0 0"/>
            <mass value="2"/>
            <inertia ixx=".1" ixy=".1" ixz=".1" iyy=".1" iyz=".1" izz=".1"/>
        </inertial>
        <visual>
            <origin xyz="0 0 0" rpy="0 0 0"/>
            <geometry>
                <box size="0.3901806440322565 0.2 1"/>
            </geometry>
        </visual>
        <collision>
            <origin xyz="0 0 0" rpy="0 0 0"/>
            <geometry>
                <box size="0.3901806440322565 0.2 1"/>
            </geometry>
        </collision>
    </link>


    <!-- hand_part_3_sensor_0_top -->
    <link name="hand_part_3_sensor_0_top">
        <inertial>
            <origin xyz="0 0 0" rpy="0 0 0"/>
            <mass value="0"/>
            <inertia ixx=".1" ixy=".1" ixz=".1" iyy=".1" iyz=".1" izz=".1"/>
        </inertial>
        <visual>
            <origin xyz="0 0 0" rpy="0 0 0"/>
            <geometry>
                <box size="0.3901806440322565 0.2 0.02"/>
            </geometry>
        </visual>
        <collision>
            <origin xyz="0 0 0" rpy="0 0 0"/>
            <geometry>
                <box size="0.3901806440322565 0.2 0.02"/>
            </geometry>
        </collision>
    </link>
    <!-- Joint: hand_part_3, hand_part_3_sensor_0_top -->
    <joint name="hand_part_3_hand_part_3_sensor_0_top_joint" type="fixed">
        <parent link="hand_part_3"/>
        <child link="hand_part_3_sensor_0_top"/>
        <origin xyz="0 0 0.5"
                rpy="0 0 0"/>
        <axis xyz="0 1 0"/>
        
    </joint>


    <!-- hand_part_3_sensor_0_bottom -->
    <link name="hand_part_3_sensor_0_bottom">
        <inertial>
            <origin xyz="0 0 0" rpy="0 0 0"/>
            <mass value="0"/>
            <inertia ixx=".1" ixy=".1" ixz=".1" iyy=".1" iyz=".1" izz=".1"/>
        </inertial>
        <visual>
            <origin xyz="0 0 0" rpy="0 0 0"/>
            <geometry>
                <box size="0.3901806440322565 0.2 0.02"/>
            </geometry>
        </visual>
        <collision>
            <origin xyz="0 0 0" rpy="0 0 0"/>
            <geometry>
                <box size="0.3901806440322565 0.2 0.02"/>
            </geometry>
        </collision>
    </link>
    <!-- Joint: hand_part_3, hand_part_3_sensor_0_bottom -->
    <joint name="hand_part_3_hand_part_3_sensor_0_bottom_joint" type="fixed">
        <parent link="hand_part_3"/>
        <child link="hand_part_3_sensor_0_bottom"/>
        <origin xyz="0 0 -0.5"
                rpy="0 0 0"/>
        <axis xyz="0 1 0"/>
        
    </joint>


    <!-- hand_part_3_sensor_0_left -->
    <link name="hand_part_3_sensor_0_left">
        <inertial>
            <origin xyz="0 0 0" rpy="0 0 0"/>
            <mass value="0"/>
            <inertia ixx=".1" ixy=".1" ixz=".1" iyy=".1" iyz=".1" izz=".1"/>
        </inertial>
        <visual>
            <origin xyz="0 0 0" rpy="0 0 0"/>
            <geometry>
                <box size="0.3901806440322565 0.02 1"/>
            </geometry>
        </visual>
        <collision>
            <origin xyz="0 0 0" rpy="0 0 0"/>
            <geometry>
                <box size="0.3901806440322565 0.02 1"/>
            </geometry>
        </collision>
    </link>
    <!-- Joint: hand_part_3, hand_part_3_sensor_0_left -->
    <joint name="hand_part_3_hand_part_3_sensor_0_left_joint" type="fixed">
        <parent link="hand_part_3"/>
        <child link="hand_part_3_sensor_0_left"/>
        <origin xyz="0 0.1 0"
                rpy="0 0 0"/>
        <axis xyz="0 1 0"/>
        
    </joint>


    <!-- hand_part_3_sensor_0_right -->
    <link name="hand_part_3_sensor_0_right">
        <inertial>
            <origin xyz="0 0 0" rpy="0 0 0"/>
            <mass value="0"/>
            <inertia ixx=".1" ixy=".1" ixz=".1" iyy=".1" iyz=".1" izz=".1"/>
        </inertial>
        <visual>
            <origin xyz="0 0 0" rpy="0 0 0"/>
            <geometry>
                <box size="0.3901806440322565 0.02 1"/>
            </geometry>
        </visual>
        <collision>
            <origin xyz="0 0 0" rpy="0 0 0"/>
            <geometry>
                <box size="0.3901806440322565 0.02 1"/>
            </geometry>
        </collision>
    </link>
    <!-- Joint: hand_part_3, hand_part_3_sensor_0_right -->
    <joint name="hand_part_3_hand_part_3_sensor_0_right_joint" type="fixed">
        <parent link="hand_part_3"/>
        <child link="hand_part_3_sensor_0_right"/>
        <origin xyz="0 -0.1 0"
                rpy="0 0 0"/>
        <axis xyz="0 1 0"/>
        
    </joint>
    <!-- Joint: hand_part_0, hand_part_3 -->
    <joint name="hand_part_0_hand_part_3_joint" type="fixed">
        <parent link="hand_part_0"/>
        <child link="hand_part_3"/>
        <origin xyz="-0.605455002885365 0.9061274463528877 0"
                rpy="0 0 -0.39269908169872414"/>
        <axis xyz="0 1 0"/>
        
    </joint>


    <!-- hand_part_4 -->
    <link name="hand_part_4">
        <inertial>
            <origin xyz="0 0 0" rpy="0 0 0"/>
            <mass value="2"/>
            <inertia ixx=".1" ixy=".1" ixz=".1" iyy=".1" iyz=".1" izz=".1"/>
        </inertial>
        <visual>
            <origin xyz="0 0 0" rpy="0 0 0"/>
            <geometry>
                <box size="0.3901806440322565 0.2 1"/>
            </geometry>
        </visual>
        <collision>
            <origin xyz="0 0 0" rpy="0 0 0"/>
            <geometry>
                <box size="0.3901806440322565 0.2 1"/>
            </geometry>
        </collision>
    </link>


    <!-- hand_part_4_sensor_0_top -->
    <link name="hand_part_4_sensor_0_top">
        <inertial>
            <origin xyz="0 0 0" rpy="0 0 0"/>
            <mass value="0"/>
            <inertia ixx=".1" ixy=".1" ixz=".1" iyy=".1" iyz=".1" izz=".1"/>
        </inertial>
        <visual>
            <origin xyz="0 0 0" rpy="0 0 0"/>
            <geometry>
                <box size="0.3901806440322565 0.2 0.02"/>
            </geometry>
        </visual>
        <collision>
            <origin xyz="0 0 0" rpy="0 0 0"/>
            <geometry>
                <box size="0.3901806440322565 0.2 0.02"/>
            </geometry>
        </collision>
    </link>
    <!-- Joint: hand_part_4, hand_part_4_sensor_0_top -->
    <joint name="hand_part_4_hand_part_4_sensor_0_top_joint" type="fixed">
        <parent link="hand_part_4"/>
        <child link="hand_part_4_sensor_0_top"/>
        <origin xyz="0 0 0.5"
                rpy="0 0 0"/>
        <axis xyz="0 1 0"/>
        
    </joint>


    <!-- hand_part_4_sensor_0_bottom -->
    <link name="hand_part_4_sensor_0_bottom">
        <inertial>
            <origin xyz="0 0 0" rpy="0 0 0"/>
            <mass value="0"/>
            <inertia ixx=".1" ixy=".1" ixz=".1" iyy=".1" iyz=".1" izz=".1"/>
        </inertial>
        <visual>
            <origin xyz="0 0 0" rpy="0 0 0"/>
            <geometry>
                <box size="0.3901806440322565 0.2 0.02"/>
            </geometry>
        </visual>
        <collision>
            <origin xyz="0 0 0" rpy="0 0 0"/>
            <geometry>
                <box size="0.3901806440322565 0.2 0.02"/>
            </geometry>
        </collision>
    </link>
    <!-- Joint: hand_part_4, hand_part_4_sensor_0_bottom -->
    <joint name="hand_part_4_hand_part_4_sensor_0_bottom_joint" type="fixed">
        <parent link="hand_part_4"/>
        <child link="hand_part_4_sensor_0_bottom"/>
        <origin xyz="0 0 -0.5"
                rpy="0 0 0"/>
        <axis xyz="0 1 0"/>
        
    </joint>


    <!-- hand_part_4_sensor_0_left -->
    <link name="hand_part_4_sensor_0_left">
        <inertial>
            <origin xyz="0 0 0" rpy="0 0 0"/>
            <mass value="0"/>
            <inertia ixx=".1" ixy=".1" ixz=".1" iyy=".1" iyz=".1" izz=".1"/>
        </inertial>
        <visual>
            <origin xyz="0 0 0" rpy="0 0 0"/>
            <geometry>
                <box size="0.3901806440322565 0.02 1"/>
            </geometry>
        </visual>
        <collision>
            <origin xyz="0 0 0" rpy="0 0 0"/>
            <geometry>
                <box size="0.3901806440322565 0.02 1"/>
            </geometry>
        </collision>
    </link>
    <!-- Joint: hand_part_4, hand_part_4_sensor_0_left -->
    <joint name="hand_part_4_hand_part_4_sensor_0_left_joint" type="fixed">
        <parent link="hand_part_4"/>
        <child link="hand_part_4_sensor_0_left"/>
        <origin xyz="0 0.1 0"
                rpy="0 0 0"/>
        <axis xyz="0 1 0"/>
        
    </joint>


    <!-- hand_part_4_sensor_0_right -->
    <link name="hand_part_4_sensor_0_right">
        <inertial>
            <origin xyz="0 0 0" rpy="0 0 0"/>
            <mass value="0"/>
            <inertia ixx=".1" ixy=".1" ixz=".1" iyy=".1" iyz=".1" izz=".1"/>
        </inertial>
        <visual>
            <origin xyz="0 0 0" rpy="0 0 0"/>
            <geometry>
                <box size="0.3901806440322565 0.02 1"/>
            </geometry>
        </visual>
        <collision>
            <origin xyz="0 0 0" rpy="0 0 0"/>
            <geometry>
                <box size="0.3901806440322565 0.02 1"/>
            </geometry>
        </collision>
    </link>
    <!-- Joint: hand_part_4, hand_part_4_sensor_0_right -->
    <joint name="hand_part_4_hand_part_4_sensor_0_right_joint" type="fixed">
        <parent link="hand_part_4"/>
        <child link="hand_part_4_sensor_0_right"/>
        <origin xyz="0 -0.1 0"
                rpy="0 0 0"/>
        <axis xyz="0 1 0"/>
        
    </joint>
    <!-- Joint: hand_part_0, hand_part_4 -->
    <joint name="hand_part_0_hand_part_4_joint" type="fixed">
        <parent link="hand_part_0"/>
        <child link="hand_part_4"/>
        <origin xyz="-0.9807852804032302 0.9807852804032303 0"
                rpy="0 0 0.0"/>
        <axis xyz="0 1 0"/>
        
    </joint>


    <!-- hand_part_5 -->
    <link name="hand_part_5">
        <inertial>
            <origin xyz="0 0 0" rpy="0 0 0"/>
            <mass value="2"/>
            <inertia ixx=".1" ixy=".1" ixz=".1" iyy=".1" iyz=".1" izz=".1"/>
        </inertial>
        <visual>
            <origin xyz="0 0 0" rpy="0 0 0"/>
            <geometry>
                <box size="0.3901806440322565 0.2 1"/>
            </geometry>
        </visual>
        <collision>
            <origin xyz="0 0 0" rpy="0 0 0"/>
            <geometry>
                <box size="0.3901806440322565 0.2 1"/>
            </geometry>
        </collision>
    </link>


    <!-- hand_part_5_sensor_0_top -->
    <link name="hand_part_5_sensor_0_top">
        <inertial>
            <origin xyz="0 0 0" rpy="0 0 0"/>
            <mass value="0"/>
            <inertia ixx=".1" ixy=".1" ixz=".1" iyy=".1" iyz=".1" izz=".1"/>
        </inertial>
        <visual>
            <origin xyz="0 0 0" rpy="0 0 0"/>
            <geometry>
                <box size="0.3901806440322565 0.2 0.02"/>
            </geometry>
        </visual>
        <collision>
            <origin xyz="0 0 0" rpy="0 0 0"/>
            <geometry>
                <box size="0.3901806440322565 0.2 0.02"/>
            </geometry>
        </collision>
    </link>
    <!-- Joint: hand_part_5, hand_part_5_sensor_0_top -->
    <joint name="hand_part_5_hand_part_5_sensor_0_top_joint" type="fixed">
        <parent link="hand_part_5"/>
        <child link="hand_part_5_sensor_0_top"/>
        <origin xyz="0 0 0.5"
                rpy="0 0 0"/>
        <axis xyz="0 1 0"/>
        
    </joint>


    <!-- hand_part_5_sensor_0_bottom -->
    <link name="hand_part_5_sensor_0_bottom">
        <inertial>
            <origin xyz="0 0 0" rpy="0 0 0"/>
            <mass value="0"/>
            <inertia ixx=".1" ixy=".1" ixz=".1" iyy=".1" iyz=".1" izz=".1"/>
        </inertial>
        <visual>
            <origin xyz="0 0 0" rpy="0 0 0"/>
            <geometry>
                <box size="0.3901806440322565 0.2 0.02"/>
            </geometry>
        </visual>
        <collision>
            <origin xyz="0 0 0" rpy="0 0 0"/>
            <geometry>
                <box size="0.3901806440322565 0.2 0.02"/>
            </geometry>
        </collision>
    </link>
    <!-- Joint: hand_part_5, hand_part_5_sensor_0_bottom -->
    <joint name="hand_part_5_hand_part_5_sensor_0_bottom_joint" type="fixed">
        <parent link="hand_part_5"/>
        <child link="hand_part_5_sensor_0_bottom"/>
        <origin xyz="0 0 -0.5"
                rpy="0 0 0"/>
        <axis xyz="0 1 0"/>
        
    </joint>


    <!-- hand_part_5_sensor_0_left -->
    <link name="hand_part_5_sensor_0_left">
        <inertial>
            <origin xyz="0 0 0" rpy="0 0 0"/>
            <mass value="0"/>
            <inertia ixx=".1" ixy=".1" ixz=".1" iyy=".1" iyz=".1" izz=".1"/>
        </inertial>
        <visual>
            <origin xyz="0 0 0" rpy="0 0 0"/>
            <geometry>
                <box size="0.3901806440322565 0.02 1"/>
            </geometry>
        </visual>
        <collision>
            <origin xyz="0 0 0" rpy="0 0 0"/>
            <geometry>
                <box size="0.3901806440322565 0.02 1"/>
            </geometry>
        </collision>
    </link>
    <!-- Joint: hand_part_5, hand_part_5_sensor_0_left -->
    <joint name="hand_part_5_hand_part_5_sensor_0_left_joint" type="fixed">
        <parent link="hand_part_5"/>
        <child link="hand_part_5_sensor_0_left"/>
        <origin xyz="0 0.1 0"
                rpy="0 0 0"/>
        <axis xyz="0 1 0"/>
        
    </joint>


    <!-- hand_part_5_sensor_0_right -->
    <link name="hand_part_5_sensor_0_right">
        <inertial>
            <origin xyz="0 0 0" rpy="0 0 0"/>
            <mass value="0"/>
            <inertia ixx=".1" ixy=".1" ixz=".1" iyy=".1" iyz=".1" izz=".1"/>
        </inertial>
        <visual>
            <origin xyz="0 0 0" rpy="0 0 0"/>
            <geometry>
                <box size="0.3901806440322565 0.02 1"/>
            </geometry>
        </visual>
        <collision>
            <origin xyz="0 0 0" rpy="0 0 0"/>
            <geometry>
                <box size="0.3901806440322565 0.02 1"/>
            </geometry>
        </collision>
    </link>
    <!-- Joint: hand_part_5, hand_part_5_sensor_0_right -->
    <joint name="hand_part_5_hand_part_5_sensor_0_right_joint" type="fixed">
        <parent link="hand_part_5"/>
        <child link="hand_part_5_sensor_0_right"/>
        <origin xyz="0 -0.1 0"
                rpy="0 0 0"/>
        <axis xyz="0 1 0"/>
        
    </joint>
    <!-- Joint: hand_part_0, hand_part_5 -->
    <joint name="hand_part_0_hand_part_5_joint" type="fixed">
        <parent link="hand_part_0"/>
        <child link="hand_part_5"/>
        <origin xyz="-1.3561155579210953 0.9061274463528877 0"
                rpy="0 0 0.39269908169872414"/>
        <axis xyz="0 1 0"/>
        
    </joint>


    <!-- hand_part_11 -->
    <link name="hand_part_11">
        <inertial>
            <origin xyz="0 0 0" rpy="0 0 0"/>
            <mass value="2"/>
            <inertia ixx=".1" ixy=".1" ixz=".1" iyy=".1" iyz=".1" izz=".1"/>
        </inertial>
        <visual>
            <origin xyz="0 0 0" rpy="0 0 0"/>
            <geometry>
                <box size="0.3901806440322565 0.2 1"/>
            </geometry>
        </visual>
        <collision>
            <origin xyz="0 0 0" rpy="0 0 0"/>
            <geometry>
                <box size="0.3901806440322565 0.2 1"/>
            </geometry>
        </collision>
    </link>


    <!-- hand_part_11_sensor_0_top -->
    <link name="hand_part_11_sensor_0_top">
        <inertial>
            <origin xyz="0 0 0" rpy="0 0 0"/>
            <mass value="0"/>
            <inertia ixx=".1" ixy=".1" ixz=".1" iyy=".1" iyz=".1" izz=".1"/>
        </inertial>
        <visual>
            <origin xyz="0 0 0" rpy="0 0 0"/>
            <geometry>
                <box size="0.3901806440322565 0.2 0.02"/>
            </geometry>
        </visual>
        <collision>
            <origin xyz="0 0 0" rpy="0 0 0"/>
            <geometry>
                <box size="0.3901806440322565 0.2 0.02"/>
            </geometry>
        </collision>
    </link>
    <!-- Joint: hand_part_11, hand_part_11_sensor_0_top -->
    <joint name="hand_part_11_hand_part_11_sensor_0_top_joint" type="fixed">
        <parent link="hand_part_11"/>
        <child link="hand_part_11_sensor_0_top"/>
        <origin xyz="0 0 0.5"
                rpy="0 0 0"/>
        <axis xyz="0 1 0"/>
        
    </joint>


    <!-- hand_part_11_sensor_0_bottom -->
    <link name="hand_part_11_sensor_0_bottom">
        <inertial>
            <origin xyz="0 0 0" rpy="0 0 0"/>
            <mass value="0"/>
            <inertia ixx=".1" ixy=".1" ixz=".1" iyy=".1" iyz=".1" izz=".1"/>
        </inertial>
        <visual>
            <origin xyz="0 0 0" rpy="0 0 0"/>
            <geometry>
                <box size="0.3901806440322565 0.2 0.02"/>
            </geometry>
        </visual>
        <collision>
            <origin xyz="0 0 0" rpy="0 0 0"/>
            <geometry>
                <box size="0.3901806440322565 0.2 0.02"/>
            </geometry>
        </collision>
    </link>
    <!-- Joint: hand_part_11, hand_part_11_sensor_0_bottom -->
    <joint name="hand_part_11_hand_part_11_sensor_0_bottom_joint" type="fixed">
        <parent link="hand_part_11"/>
        <child link="hand_part_11_sensor_0_bottom"/>
        <origin xyz="0 0 -0.5"
                rpy="0 0 0"/>
        <axis xyz="0 1 0"/>
        
    </joint>


    <!-- hand_part_11_sensor_0_left -->
    <link name="hand_part_11_sensor_0_left">
        <inertial>
            <origin xyz="0 0 0" rpy="0 0 0"/>
            <mass value="0"/>
            <inertia ixx=".1" ixy=".1" ixz=".1" iyy=".1" iyz=".1" izz=".1"/>
        </inertial>
        <visual>
            <origin xyz="0 0 0" rpy="0 0 0"/>
            <geometry>
                <box size="0.3901806440322565 0.02 1"/>
            </geometry>
        </visual>
        <collision>
            <origin xyz="0 0 0" rpy="0 0 0"/>
            <geometry>
                <box size="0.3901806440322565 0.02 1"/>
            </geometry>
        </collision>
    </link>
    <!-- Joint: hand_part_11, hand_part_11_sensor_0_left -->
    <joint name="hand_part_11_hand_part_11_sensor_0_left_joint" type="fixed">
        <parent link="hand_part_11"/>
        <child link="hand_part_11_sensor_0_left"/>
        <origin xyz="0 0.1 0"
                rpy="0 0 0"/>
        <axis xyz="0 1 0"/>
        
    </joint>


    <!-- hand_part_11_sensor_0_right -->
    <link name="hand_part_11_sensor_0_right">
        <inertial>
            <origin xyz="0 0 0" rpy="0 0 0"/>
            <mass value="0"/>
            <inertia ixx=".1" ixy=".1" ixz=".1" iyy=".1" iyz=".1" izz=".1"/>
        </inertial>
        <visual>
            <origin xyz="0 0 0" rpy="0 0 0"/>
            <geometry>
                <box size="0.3901806440322565 0.02 1"/>
            </geometry>
        </visual>
        <collision>
            <origin xyz="0 0 0" rpy="0 0 0"/>
            <geometry>
                <box size="0.3901806440322565 0.02 1"/>
            </geometry>
        </collision>
    </link>
    <!-- Joint: hand_part_11, hand_part_11_sensor_0_right -->
    <joint name="hand_part_11_hand_part_11_sensor_0_right_joint" type="fixed">
        <parent link="hand_part_11"/>
        <child link="hand_part_11_sensor_0_right"/>
        <origin xyz="0 -0.1 0"
                rpy="0 0 0"/>
        <axis xyz="0 1 0"/>
        
    </joint>
    <!-- Joint: hand_part_0, hand_part_11 -->
    <joint name="hand_part_0_hand_part_11_joint" type="fixed">
        <parent link="hand_part_0"/>
        <child link="hand_part_11"/>
        <origin xyz="-1.356115557921096 -0.9061274463528874 0"
                rpy="0 0 2.7488935718910685"/>
        <axis xyz="0 1 0"/>
        
    </joint>


    <!-- hand_part_12 -->
    <link name="hand_part_12">
        <inertial>
            <origin xyz="0 0 0" rpy="0 0 0"/>
            <mass value="2"/>
            <inertia ixx=".1" ixy=".1" ixz=".1" iyy=".1" iyz=".1" izz=".1"/>
        </inertial>
        <visual>
            <origin xyz="0 0 0" rpy="0 0 0"/>
            <geometry>
                <box size="0.3901806440322565 0.2 1"/>
            </geometry>
        </visual>
        <collision>
            <origin xyz="0 0 0" rpy="0 0 0"/>
            <geometry>
                <box size="0.3901806440322565 0.2 1"/>
            </geometry>
        </collision>
    </link>


    <!-- hand_part_12_sensor_0_top -->
    <link name="hand_part_12_sensor_0_top">
        <inertial>
            <origin xyz="0 0 0" rpy="0 0 0"/>
            <mass value="0"/>
            <inertia ixx=".1" ixy=".1" ixz=".1" iyy=".1" iyz=".1" izz=".1"/>
        </inertial>
        <visual>
            <origin xyz="0 0 0" rpy="0 0 0"/>
            <geometry>
                <box size="0.3901806440322565 0.2 0.02"/>
            </geometry>
        </visual>
        <collision>
            <origin xyz="0 0 0" rpy="0 0 0"/>
            <geometry>
                <box size="0.3901806440322565 0.2 0.02"/>
            </geometry>
        </collision>
    </link>
    <!-- Joint: hand_part_12, hand_part_12_sensor_0_top -->
    <joint name="hand_part_12_hand_part_12_sensor_0_top_joint" type="fixed">
        <parent link="hand_part_12"/>
        <child link="hand_part_12_sensor_0_top"/>
        <origin xyz="0 0 0.5"
                rpy="0 0 0"/>
        <axis xyz="0 1 0"/>
        
    </joint>


    <!-- hand_part_12_sensor_0_bottom -->
    <link name="hand_part_12_sensor_0_bottom">
        <inertial>
            <origin xyz="0 0 0" rpy="0 0 0"/>
            <mass value="0"/>
            <inertia ixx=".1" ixy=".1" ixz=".1" iyy=".1" iyz=".1" izz=".1"/>
        </inertial>
        <visual>
            <origin xyz="0 0 0" rpy="0 0 0"/>
            <geometry>
                <box size="0.3901806440322565 0.2 0.02"/>
            </geometry>
        </visual>
        <collision>
            <origin xyz="0 0 0" rpy="0 0 0"/>
            <geometry>
                <box size="0.3901806440322565 0.2 0.02"/>
            </geometry>
        </collision>
    </link>
    <!-- Joint: hand_part_12, hand_part_12_sensor_0_bottom -->
    <joint name="hand_part_12_hand_part_12_sensor_0_bottom_joint" type="fixed">
        <parent link="hand_part_12"/>
        <child link="hand_part_12_sensor_0_bottom"/>
        <origin xyz="0 0 -0.5"
                rpy="0 0 0"/>
        <axis xyz="0 1 0"/>
        
    </joint>


    <!-- hand_part_12_sensor_0_left -->
    <link name="hand_part_12_sensor_0_left">
        <inertial>
            <origin xyz="0 0 0" rpy="0 0 0"/>
            <mass value="0"/>
            <inertia ixx=".1" ixy=".1" ixz=".1" iyy=".1" iyz=".1" izz=".1"/>
        </inertial>
        <visual>
            <origin xyz="0 0 0" rpy="0 0 0"/>
            <geometry>
                <box size="0.3901806440322565 0.02 1"/>
            </geometry>
        </visual>
        <collision>
            <origin xyz="0 0 0" rpy="0 0 0"/>
            <geometry>
                <box size="0.3901806440322565 0.02 1"/>
            </geometry>
        </collision>
    </link>
    <!-- Joint: hand_part_12, hand_part_12_sensor_0_left -->
    <joint name="hand_part_12_hand_part_12_sensor_0_left_joint" type="fixed">
        <parent link="hand_part_12"/>
        <child link="hand_part_12_sensor_0_left"/>
        <origin xyz="0 0.1 0"
                rpy="0 0 0"/>
        <axis xyz="0 1 0"/>
        
    </joint>


    <!-- hand_part_12_sensor_0_right -->
    <link name="hand_part_12_sensor_0_right">
        <inertial>
            <origin xyz="0 0 0" rpy="0 0 0"/>
            <mass value="0"/>
            <inertia ixx=".1" ixy=".1" ixz=".1" iyy=".1" iyz=".1" izz=".1"/>
        </inertial>
        <visual>
            <origin xyz="0 0 0" rpy="0 0 0"/>
            <geometry>
                <box size="0.3901806440322565 0.02 1"/>
            </geometry>
        </visual>
        <collision>
            <origin xyz="0 0 0" rpy="0 0 0"/>
            <geometry>
                <box size="0.3901806440322565 0.02 1"/>
            </geometry>
        </collision>
    </link>
    <!-- Joint: hand_part_12, hand_part_12_sensor_0_right -->
    <joint name="hand_part_12_hand_part_12_sensor_0_right_joint" type="fixed">
        <parent link="hand_part_12"/>
        <child link="hand_part_12_sensor_0_right"/>
        <origin xyz="0 -0.1 0"
                rpy="0 0 0"/>
        <axis xyz="0 1 0"/>
        
    </joint>
    <!-- Joint: hand_part_0, hand_part_12 -->
    <joint name="hand_part_0_hand_part_12_joint" type="fixed">
        <parent link="hand_part_0"/>
        <child link="hand_part_12"/>
        <origin xyz="-0.9807852804032305 -0.9807852804032303 0"
                rpy="0 0 3.141592653589793"/>
        <axis xyz="0 1 0"/>
        
    </joint>


    <!-- hand_part_13 -->
    <link name="hand_part_13">
        <inertial>
            <origin xyz="0 0 0" rpy="0 0 0"/>
            <mass value="2"/>
            <inertia ixx=".1" ixy=".1" ixz=".1" iyy=".1" iyz=".1" izz=".1"/>
        </inertial>
        <visual>
            <origin xyz="0 0 0" rpy="0 0 0"/>
            <geometry>
                <box size="0.3901806440322565 0.2 1"/>
            </geometry>
        </visual>
        <collision>
            <origin xyz="0 0 0" rpy="0 0 0"/>
            <geometry>
                <box size="0.3901806440322565 0.2 1"/>
            </geometry>
        </collision>
    </link>


    <!-- hand_part_13_sensor_0_top -->
    <link name="hand_part_13_sensor_0_top">
        <inertial>
            <origin xyz="0 0 0" rpy="0 0 0"/>
            <mass value="0"/>
            <inertia ixx=".1" ixy=".1" ixz=".1" iyy=".1" iyz=".1" izz=".1"/>
        </inertial>
        <visual>
            <origin xyz="0 0 0" rpy="0 0 0"/>
            <geometry>
                <box size="0.3901806440322565 0.2 0.02"/>
            </geometry>
        </visual>
        <collision>
            <origin xyz="0 0 0" rpy="0 0 0"/>
            <geometry>
                <box size="0.3901806440322565 0.2 0.02"/>
            </geometry>
        </collision>
    </link>
    <!-- Joint: hand_part_13, hand_part_13_sensor_0_top -->
    <joint name="hand_part_13_hand_part_13_sensor_0_top_joint" type="fixed">
        <parent link="hand_part_13"/>
        <child link="hand_part_13_sensor_0_top"/>
        <origin xyz="0 0 0.5"
                rpy="0 0 0"/>
        <axis xyz="0 1 0"/>
        
    </joint>


    <!-- hand_part_13_sensor_0_bottom -->
    <link name="hand_part_13_sensor_0_bottom">
        <inertial>
            <origin xyz="0 0 0" rpy="0 0 0"/>
            <mass value="0"/>
            <inertia ixx=".1" ixy=".1" ixz=".1" iyy=".1" iyz=".1" izz=".1"/>
        </inertial>
        <visual>
            <origin xyz="0 0 0" rpy="0 0 0"/>
            <geometry>
                <box size="0.3901806440322565 0.2 0.02"/>
            </geometry>
        </visual>
        <collision>
            <origin xyz="0 0 0" rpy="0 0 0"/>
            <geometry>
                <box size="0.3901806440322565 0.2 0.02"/>
            </geometry>
        </collision>
    </link>
    <!-- Joint: hand_part_13, hand_part_13_sensor_0_bottom -->
    <joint name="hand_part_13_hand_part_13_sensor_0_bottom_joint" type="fixed">
        <parent link="hand_part_13"/>
        <child link="hand_part_13_sensor_0_bottom"/>
        <origin xyz="0 0 -0.5"
                rpy="0 0 0"/>
        <axis xyz="0 1 0"/>
        
    </joint>


    <!-- hand_part_13_sensor_0_left -->
    <link name="hand_part_13_sensor_0_left">
        <inertial>
            <origin xyz="0 0 0" rpy="0 0 0"/>
            <mass value="0"/>
            <inertia ixx=".1" ixy=".1" ixz=".1" iyy=".1" iyz=".1" izz=".1"/>
        </inertial>
        <visual>
            <origin xyz="0 0 0" rpy="0 0 0"/>
            <geometry>
                <box size="0.3901806440322565 0.02 1"/>
            </geometry>
        </visual>
        <collision>
            <origin xyz="0 0 0" rpy="0 0 0"/>
            <geometry>
                <box size="0.3901806440322565 0.02 1"/>
            </geometry>
        </collision>
    </link>
    <!-- Joint: hand_part_13, hand_part_13_sensor_0_left -->
    <joint name="hand_part_13_hand_part_13_sensor_0_left_joint" type="fixed">
        <parent link="hand_part_13"/>
        <child link="hand_part_13_sensor_0_left"/>
        <origin xyz="0 0.1 0"
                rpy="0 0 0"/>
        <axis xyz="0 1 0"/>
        
    </joint>


    <!-- hand_part_13_sensor_0_right -->
    <link name="hand_part_13_sensor_0_right">
        <inertial>
            <origin xyz="0 0 0" rpy="0 0 0"/>
            <mass value="0"/>
            <inertia ixx=".1" ixy=".1" ixz=".1" iyy=".1" iyz=".1" izz=".1"/>
        </inertial>
        <visual>
            <origin xyz="0 0 0" rpy="0 0 0"/>
            <geometry>
                <box size="0.3901806440322565 0.02 1"/>
            </geometry>
        </visual>
        <collision>
            <origin xyz="0 0 0" rpy="0 0 0"/>
            <geometry>
                <box size="0.3901806440322565 0.02 1"/>
            </geometry>
        </collision>
    </link>
    <!-- Joint: hand_part_13, hand_part_13_sensor_0_right -->
    <joint name="hand_part_13_hand_part_13_sensor_0_right_joint" type="fixed">
        <parent link="hand_part_13"/>
        <child link="hand_part_13_sensor_0_right"/>
        <origin xyz="0 -0.1 0"
                rpy="0 0 0"/>
        <axis xyz="0 1 0"/>
        
    </joint>
    <!-- Joint: hand_part_0, hand_part_13 -->
    <joint name="hand_part_0_hand_part_13_joint" type="fixed">
        <parent link="hand_part_0"/>
        <child link="hand_part_13"/>
        <origin xyz="-0.6054550028853648 -0.9061274463528876 0"
                rpy="0 0 3.5342917352885177"/>
        <axis xyz="0 1 0"/>
        
    </joint>


    <!-- hand_part_14 -->
    <link name="hand_part_14">
        <inertial>
            <origin xyz="0 0 0" rpy="0 0 0"/>
            <mass value="2"/>
            <inertia ixx=".1" ixy=".1" ixz=".1" iyy=".1" iyz=".1" izz=".1"/>
        </inertial>
        <visual>
            <origin xyz="0 0 0" rpy="0 0 0"/>
            <geometry>
                <box size="0.3901806440322565 0.2 1"/>
            </geometry>
        </visual>
        <collision>
            <origin xyz="0 0 0" rpy="0 0 0"/>
            <geometry>
                <box size="0.3901806440322565 0.2 1"/>
            </geometry>
        </collision>
    </link>


    <!-- hand_part_14_sensor_0_top -->
    <link name="hand_part_14_sensor_0_top">
        <inertial>
            <origin xyz="0 0 0" rpy="0 0 0"/>
            <mass value="0"/>
            <inertia ixx=".1" ixy=".1" ixz=".1" iyy=".1" iyz=".1" izz=".1"/>
        </inertial>
        <visual>
            <origin xyz="0 0 0" rpy="0 0 0"/>
            <geometry>
                <box size="0.3901806440322565 0.2 0.02"/>
            </geometry>
        </visual>
        <collision>
            <origin xyz="0 0 0" rpy="0 0 0"/>
            <geometry>
                <box size="0.3901806440322565 0.2 0.02"/>
            </geometry>
        </collision>
    </link>
    <!-- Joint: hand_part_14, hand_part_14_sensor_0_top -->
    <joint name="hand_part_14_hand_part_14_sensor_0_top_joint" type="fixed">
        <parent link="hand_part_14"/>
        <child link="hand_part_14_sensor_0_top"/>
        <origin xyz="0 0 0.5"
                rpy="0 0 0"/>
        <axis xyz="0 1 0"/>
        
    </joint>


    <!-- hand_part_14_sensor_0_bottom -->
    <link name="hand_part_14_sensor_0_bottom">
        <inertial>
            <origin xyz="0 0 0" rpy="0 0 0"/>
            <mass value="0"/>
            <inertia ixx=".1" ixy=".1" ixz=".1" iyy=".1" iyz=".1" izz=".1"/>
        </inertial>
        <visual>
            <origin xyz="0 0 0" rpy="0 0 0"/>
            <geometry>
                <box size="0.3901806440322565 0.2 0.02"/>
            </geometry>
        </visual>
        <collision>
            <origin xyz="0 0 0" rpy="0 0 0"/>
            <geometry>
                <box size="0.3901806440322565 0.2 0.02"/>
            </geometry>
        </collision>
    </link>
    <!-- Joint: hand_part_14, hand_part_14_sensor_0_bottom -->
    <joint name="hand_part_14_hand_part_14_sensor_0_bottom_joint" type="fixed">
        <parent link="hand_part_14"/>
        <child link="hand_part_14_sensor_0_bottom"/>
        <origin xyz="0 0 -0.5"
                rpy="0 0 0"/>
        <axis xyz="0 1 0"/>
        
    </joint>


    <!-- hand_part_14_sensor_0_left -->
    <link name="hand_part_14_sensor_0_left">
        <inertial>
            <origin xyz="0 0 0" rpy="0 0 0"/>
            <mass value="0"/>
            <inertia ixx=".1" ixy=".1" ixz=".1" iyy=".1" iyz=".1" izz=".1"/>
        </inertial>
        <visual>
            <origin xyz="0 0 0" rpy="0 0 0"/>
            <geometry>
                <box size="0.3901806440322565 0.02 1"/>
            </geometry>
        </visual>
        <collision>
            <origin xyz="0 0 0" rpy="0 0 0"/>
            <geometry>
                <box size="0.3901806440322565 0.02 1"/>
            </geometry>
        </collision>
    </link>
    <!-- Joint: hand_part_14, hand_part_14_sensor_0_left -->
    <joint name="hand_part_14_hand_part_14_sensor_0_left_joint" type="fixed">
        <parent link="hand_part_14"/>
        <child link="hand_part_14_sensor_0_left"/>
        <origin xyz="0 0.1 0"
                rpy="0 0 0"/>
        <axis xyz="0 1 0"/>
        
    </joint>


    <!-- hand_part_14_sensor_0_right -->
    <link name="hand_part_14_sensor_0_right">
        <inertial>
            <origin xyz="0 0 0" rpy="0 0 0"/>
            <mass value="0"/>
            <inertia ixx=".1" ixy=".1" ixz=".1" iyy=".1" iyz=".1" izz=".1"/>
        </inertial>
        <visual>
            <origin xyz="0 0 0" rpy="0 0 0"/>
            <geometry>
                <box size="0.3901806440322565 0.02 1"/>
            </geometry>
        </visual>
        <collision>
            <origin xyz="0 0 0" rpy="0 0 0"/>
            <geometry>
                <box size="0.3901806440322565 0.02 1"/>
            </geometry>
        </collision>
    </link>
    <!-- Joint: hand_part_14, hand_part_14_sensor_0_right -->
    <joint name="hand_part_14_hand_part_14_sensor_0_right_joint" type="fixed">
        <parent link="hand_part_14"/>
        <child link="hand_part_14_sensor_0_right"/>
        <origin xyz="0 -0.1 0"
                rpy="0 0 0"/>
        <axis xyz="0 1 0"/>
        
    </joint>
    <!-- Joint: hand_part_0, hand_part_14 -->
    <joint name="hand_part_0_hand_part_14_joint" type="fixed">
        <parent link="hand_part_0"/>
        <child link="hand_part_14"/>
        <origin xyz="-0.28726535774215683 -0.6935199226610738 0"
                rpy="0 0 3.9269908169872414"/>
        <axis xyz="0 1 0"/>
        
    </joint>


    <!-- hand_part_15 -->
    <link name="hand_part_15">
        <inertial>
            <origin xyz="0 0 0" rpy="0 0 0"/>
            <mass value="2"/>
            <inertia ixx=".1" ixy=".1" ixz=".1" iyy=".1" iyz=".1" izz=".1"/>
        </inertial>
        <visual>
            <origin xyz="0 0 0" rpy="0 0 0"/>
            <geometry>
                <box size="0.3901806440322565 0.2 1"/>
            </geometry>
        </visual>
        <collision>
            <origin xyz="0 0 0" rpy="0 0 0"/>
            <geometry>
                <box size="0.3901806440322565 0.2 1"/>
            </geometry>
        </collision>
    </link>


    <!-- hand_part_15_sensor_0_top -->
    <link name="hand_part_15_sensor_0_top">
        <inertial>
            <origin xyz="0 0 0" rpy="0 0 0"/>
            <mass value="0"/>
            <inertia ixx=".1" ixy=".1" ixz=".1" iyy=".1" iyz=".1" izz=".1"/>
        </inertial>
        <visual>
            <origin xyz="0 0 0" rpy="0 0 0"/>
            <geometry>
                <box size="0.3901806440322565 0.2 0.02"/>
            </geometry>
        </visual>
        <collision>
            <origin xyz="0 0 0" rpy="0 0 0"/>
            <geometry>
                <box size="0.3901806440322565 0.2 0.02"/>
            </geometry>
        </collision>
    </link>
    <!-- Joint: hand_part_15, hand_part_15_sensor_0_top -->
    <joint name="hand_part_15_hand_part_15_sensor_0_top_joint" type="fixed">
        <parent link="hand_part_15"/>
        <child link="hand_part_15_sensor_0_top"/>
        <origin xyz="0 0 0.5"
                rpy="0 0 0"/>
        <axis xyz="0 1 0"/>
        
    </joint>


    <!-- hand_part_15_sensor_0_bottom -->
    <link name="hand_part_15_sensor_0_bottom">
        <inertial>
            <origin xyz="0 0 0" rpy="0 0 0"/>
            <mass value="0"/>
            <inertia ixx=".1" ixy=".1" ixz=".1" iyy=".1" iyz=".1" izz=".1"/>
        </inertial>
        <visual>
            <origin xyz="0 0 0" rpy="0 0 0"/>
            <geometry>
                <box size="0.3901806440322565 0.2 0.02"/>
            </geometry>
        </visual>
        <collision>
            <origin xyz="0 0 0" rpy="0 0 0"/>
            <geometry>
                <box size="0.3901806440322565 0.2 0.02"/>
            </geometry>
        </collision>
    </link>
    <!-- Joint: hand_part_15, hand_part_15_sensor_0_bottom -->
    <joint name="hand_part_15_hand_part_15_sensor_0_bottom_joint" type="fixed">
        <parent link="hand_part_15"/>
        <child link="hand_part_15_sensor_0_bottom"/>
        <origin xyz="0 0 -0.5"
                rpy="0 0 0"/>
        <axis xyz="0 1 0"/>
        
    </joint>


    <!-- hand_part_15_sensor_0_left -->
    <link name="hand_part_15_sensor_0_left">
        <inertial>
            <origin xyz="0 0 0" rpy="0 0 0"/>
            <mass value="0"/>
            <inertia ixx=".1" ixy=".1" ixz=".1" iyy=".1" iyz=".1" izz=".1"/>
        </inertial>
        <visual>
            <origin xyz="0 0 0" rpy="0 0 0"/>
            <geometry>
                <box size="0.3901806440322565 0.02 1"/>
            </geometry>
        </visual>
        <collision>
            <origin xyz="0 0 0" rpy="0 0 0"/>
            <geometry>
                <box size="0.3901806440322565 0.02 1"/>
            </geometry>
        </collision>
    </link>
    <!-- Joint: hand_part_15, hand_part_15_sensor_0_left -->
    <joint name="hand_part_15_hand_part_15_sensor_0_left_joint" type="fixed">
        <parent link="hand_part_15"/>
        <child link="hand_part_15_sensor_0_left"/>
        <origin xyz="0 0.1 0"
                rpy="0 0 0"/>
        <axis xyz="0 1 0"/>
        
    </joint>


    <!-- hand_part_15_sensor_0_right -->
    <link name="hand_part_15_sensor_0_right">
        <inertial>
            <origin xyz="0 0 0" rpy="0 0 0"/>
            <mass value="0"/>
            <inertia ixx=".1" ixy=".1" ixz=".1" iyy=".1" iyz=".1" izz=".1"/>
        </inertial>
        <visual>
            <origin xyz="0 0 0" rpy="0 0 0"/>
            <geometry>
                <box size="0.3901806440322565 0.02 1"/>
            </geometry>
        </visual>
        <collision>
            <origin xyz="0 0 0" rpy="0 0 0"/>
            <geometry>
                <box size="0.3901806440322565 0.02 1"/>
            </geometry>
        </collision>
    </link>
    <!-- Joint: hand_part_15, hand_part_15_sensor_0_right -->
    <joint name="hand_part_15_hand_part_15_sensor_0_right_joint" type="fixed">
        <parent link="hand_part_15"/>
        <child link="hand_part_15_sensor_0_right"/>
        <origin xyz="0 -0.1 0"
                rpy="0 0 0"/>
        <axis xyz="0 1 0"/>
        
    </joint>
    <!-- Joint: hand_part_0, hand_part_15 -->
    <joint name="hand_part_0_hand_part_15_joint" type="fixed">
        <parent link="hand_part_0"/>
        <child link="hand_part_15"/>
        <origin xyz="-0.07465783405034283 -0.3753302775178658 0"
                rpy="0 0 4.319689898685965"/>
        <axis xyz="0 1 0"/>
        
    </joint>


    <!-- body_face_front_0 -->
    <link name="body_face_front_0">
        <inertial>
            <origin xyz="0 0 0" rpy="0 0 0"/>
            <mass value="0"/>
            <inertia ixx=".1" ixy=".1" ixz=".1" iyy=".1" iyz=".1" izz=".1"/>
        </inertial>
        <visual>
            <origin xyz="0 0 0" rpy="0 0 0"/>
            <geometry>
                <box size="0.002 0.1111111111111111 0.1111111111111111"/>
            </geometry>
        </visual>
        <collision>
            <origin xyz="0 0 0" rpy="0 0 0"/>
            <geometry>
                <box size="0.002 0.1111111111111111 0.1111111111111111"/>
            </geometry>
        </collision>
    </link>
    <!-- Joint: body, body_face_front_0 -->
    <joint name="body_body_face_front_0_joint" type="fixed">
        <parent link="body"/>
        <child link="body_face_front_0"/>
        <origin xyz="0.501 -0.33333333333333337 0.11111111111111116"
                rpy="0 0 0"/>
        <axis xyz="0 0 1"/>
        
    </joint>


    <!-- body_face_front_1 -->
    <link name="body_face_front_1">
        <inertial>
            <origin xyz="0 0 0" rpy="0 0 0"/>
            <mass value="0"/>
            <inertia ixx=".1" ixy=".1" ixz=".1" iyy=".1" iyz=".1" izz=".1"/>
        </inertial>
        <visual>
            <origin xyz="0 0 0" rpy="0 0 0"/>
            <geometry>
                <box size="0.002 0.1111111111111111 0.1111111111111111"/>
            </geometry>
        </visual>
        <collision>
            <origin xyz="0 0 0" rpy="0 0 0"/>
            <geometry>
                <box size="0.002 0.1111111111111111 0.1111111111111111"/>
            </geometry>
        </collision>
    </link>
    <!-- Joint: body, body_face_front_1 -->
    <joint name="body_body_face_front_1_joint" type="fixed">
        <parent link="body"/>
        <child link="body_face_front_1"/>
        <origin xyz="0.501 -0.2222222222222222 0.2222222222222222"
                rpy="0 0 0"/>
        <axis xyz="0 0 1"/>
        
    </joint>


    <!-- body_face_front_2 -->
    <link name="body_face_front_2">
        <inertial>
            <origin xyz="0 0 0" rpy="0 0 0"/>
            <mass value="0"/>
            <inertia ixx=".1" ixy=".1" ixz=".1" iyy=".1" iyz=".1" izz=".1"/>
        </inertial>
        <visual>
            <origin xyz="0 0 0" rpy="0 0 0"/>
            <geometry>
                <box size="0.002 0.1111111111111111 0.1111111111111111"/>
            </geometry>
        </visual>
        <collision>
            <origin xyz="0 0 0" rpy="0 0 0"/>
            <geometry>
                <box size="0.002 0.1111111111111111 0.1111111111111111"/>
            </geometry>
        </collision>
    </link>
    <!-- Joint: body, body_face_front_2 -->
    <joint name="body_body_face_front_2_joint" type="fixed">
        <parent link="body"/>
        <child link="body_face_front_2"/>
        <origin xyz="0.501 -0.1111111111111111 0.11111111111111116"
                rpy="0 0 0"/>
        <axis xyz="0 0 1"/>
        
    </joint>


    <!-- body_face_front_3 -->
    <link name="body_face_front_3">
        <inertial>
            <origin xyz="0 0 0" rpy="0 0 0"/>
            <mass value="0"/>
            <inertia ixx=".1" ixy=".1" ixz=".1" iyy=".1" iyz=".1" izz=".1"/>
        </inertial>
        <visual>
            <origin xyz="0 0 0" rpy="0 0 0"/>
            <geometry>
                <box size="0.002 0.1111111111111111 0.1111111111111111"/>
            </geometry>
        </visual>
        <collision>
            <origin xyz="0 0 0" rpy="0 0 0"/>
            <geometry>
                <box size="0.002 0.1111111111111111 0.1111111111111111"/>
            </geometry>
        </collision>
    </link>
    <!-- Joint: body, body_face_front_3 -->
    <joint name="body_body_face_front_3_joint" type="fixed">
        <parent link="body"/>
        <child link="body_face_front_3"/>
        <origin xyz="0.501 -0.1111111111111111 -0.2222222222222222"
                rpy="0 0 0"/>
        <axis xyz="0 0 1"/>
        
    </joint>


    <!-- body_face_front_4 -->
    <link name="body_face_front_4">
        <inertial>
            <origin xyz="0 0 0" rpy="0 0 0"/>
            <mass value="0"/>
            <inertia ixx=".1" ixy=".1" ixz=".1" iyy=".1" iyz=".1" izz=".1"/>
        </inertial>
        <visual>
            <origin xyz="0 0 0" rpy="0 0 0"/>
            <geometry>
                <box size="0.002 0.1111111111111111 0.1111111111111111"/>
            </geometry>
        </visual>
        <collision>
            <origin xyz="0 0 0" rpy="0 0 0"/>
            <geometry>
                <box size="0.002 0.1111111111111111 0.1111111111111111"/>
            </geometry>
        </collision>
    </link>
    <!-- Joint: body, body_face_front_4 -->
    <joint name="body_body_face_front_4_joint" type="fixed">
        <parent link="body"/>
        <child link="body_face_front_4"/>
        <origin xyz="0.501 0.0 -0.2222222222222222"
                rpy="0 0 0"/>
        <axis xyz="0 0 1"/>
        
    </joint>


    <!-- body_face_front_5 -->
    <link name="body_face_front_5">
        <inertial>
            <origin xyz="0 0 0" rpy="0 0 0"/>
            <mass value="0"/>
            <inertia ixx=".1" ixy=".1" ixz=".1" iyy=".1" iyz=".1" izz=".1"/>
        </inertial>
        <visual>
            <origin xyz="0 0 0" rpy="0 0 0"/>
            <geometry>
                <box size="0.002 0.1111111111111111 0.1111111111111111"/>
            </geometry>
        </visual>
        <collision>
            <origin xyz="0 0 0" rpy="0 0 0"/>
            <geometry>
                <box size="0.002 0.1111111111111111 0.1111111111111111"/>
            </geometry>
        </collision>
    </link>
    <!-- Joint: body, body_face_front_5 -->
    <joint name="body_body_face_front_5_joint" type="fixed">
        <parent link="body"/>
        <child link="body_face_front_5"/>
        <origin xyz="0.501 0.11111111111111116 0.11111111111111116"
                rpy="0 0 0"/>
        <axis xyz="0 0 1"/>
        
    </joint>


    <!-- body_face_front_6 -->
    <link name="body_face_front_6">
        <inertial>
            <origin xyz="0 0 0" rpy="0 0 0"/>
            <mass value="0"/>
            <inertia ixx=".1" ixy=".1" ixz=".1" iyy=".1" iyz=".1" izz=".1"/>
        </inertial>
        <visual>
            <origin xyz="0 0 0" rpy="0 0 0"/>
            <geometry>
                <box size="0.002 0.1111111111111111 0.1111111111111111"/>
            </geometry>
        </visual>
        <collision>
            <origin xyz="0 0 0" rpy="0 0 0"/>
            <geometry>
                <box size="0.002 0.1111111111111111 0.1111111111111111"/>
            </geometry>
        </collision>
    </link>
    <!-- Joint: body, body_face_front_6 -->
    <joint name="body_body_face_front_6_joint" type="fixed">
        <parent link="body"/>
        <child link="body_face_front_6"/>
        <origin xyz="0.501 0.11111111111111116 -0.2222222222222222"
                rpy="0 0 0"/>
        <axis xyz="0 0 1"/>
        
    </joint>


    <!-- body_face_front_7 -->
    <link name="body_face_front_7">
        <inertial>
            <origin xyz="0 0 0" rpy="0 0 0"/>
            <mass value="0"/>
            <inertia ixx=".1" ixy=".1" ixz=".1" iyy=".1" iyz=".1" izz=".1"/>
        </inertial>
        <visual>
            <origin xyz="0 0 0" rpy="0 0 0"/>
            <geometry>
                <box size="0.002 0.1111111111111111 0.1111111111111111"/>
            </geometry>
        </visual>
        <collision>
            <origin xyz="0 0 0" rpy="0 0 0"/>
            <geometry>
                <box size="0.002 0.1111111111111111 0.1111111111111111"/>
            </geometry>
        </collision>
    </link>
    <!-- Joint: body, body_face_front_7 -->
    <joint name="body_body_face_front_7_joint" type="fixed">
        <parent link="body"/>
        <child link="body_face_front_7"/>
        <origin xyz="0.501 0.2222222222222222 0.2222222222222222"
                rpy="0 0 0"/>
        <axis xyz="0 0 1"/>
        
    </joint>


    <!-- body_face_front_8 -->
    <link name="body_face_front_8">
        <inertial>
            <origin xyz="0 0 0" rpy="0 0 0"/>
            <mass value="0"/>
            <inertia ixx=".1" ixy=".1" ixz=".1" iyy=".1" iyz=".1" izz=".1"/>
        </inertial>
        <visual>
            <origin xyz="0 0 0" rpy="0 0 0"/>
            <geometry>
                <box size="0.002 0.1111111111111111 0.1111111111111111"/>
            </geometry>
        </visual>
        <collision>
            <origin xyz="0 0 0" rpy="0 0 0"/>
            <geometry>
                <box size="0.002 0.1111111111111111 0.1111111111111111"/>
            </geometry>
        </collision>
    </link>
    <!-- Joint: body, body_face_front_8 -->
    <joint name="body_body_face_front_8_joint" type="fixed">
        <parent link="body"/>
        <child link="body_face_front_8"/>
        <origin xyz="0.501 0.33333333333333337 0.11111111111111116"
                rpy="0 0 0"/>
        <axis xyz="0 0 1"/>
        
    </joint>


    <!-- body_face_top_0 -->
    <link name="body_face_top_0">
        <inertial>
            <origin xyz="0 0 0" rpy="0 0 0"/>
            <mass value="0"/>
            <inertia ixx=".1" ixy=".1" ixz=".1" iyy=".1" iyz=".1" izz=".1"/>
        </inertial>
        <visual>
            <origin xyz="0 0 0" rpy="0 0 0"/>
            <geometry>
                <box size="0.1111111111111111 0.1111111111111111 0.002"/>
            </geometry>
        </visual>
        <collision>
            <origin xyz="0 0 0" rpy="0 0 0"/>
            <geometry>
                <box size="0.1111111111111111 0.1111111111111111 0.002"/>
            </geometry>
        </collision>
    </link>
    <!-- Joint: body, body_face_top_0 -->
    <joint name="body_body_face_top_0_joint" type="fixed">
        <parent link="body"/>
        <child link="body_face_top_0"/>
        <origin xyz="0.11111111111111116 -0.2222222222222222 0.501"
                rpy="0 0 0"/>
        <axis xyz="0 0 1"/>
        
    </joint>


    <!-- body_face_top_1 -->
    <link name="body_face_top_1">
        <inertial>
            <origin xyz="0 0 0" rpy="0 0 0"/>
            <mass value="0"/>
            <inertia ixx=".1" ixy=".1" ixz=".1" iyy=".1" iyz=".1" izz=".1"/>
        </inertial>
        <visual>
            <origin xyz="0 0 0" rpy="0 0 0"/>
            <geometry>
                <box size="0.1111111111111111 0.1111111111111111 0.002"/>
            </geometry>
        </visual>
        <collision>
            <origin xyz="0 0 0" rpy="0 0 0"/>
            <geometry>
                <box size="0.1111111111111111 0.1111111111111111 0.002"/>
            </geometry>
        </collision>
    </link>
    <!-- Joint: body, body_face_top_1 -->
    <joint name="body_body_face_top_1_joint" type="fixed">
        <parent link="body"/>
        <child link="body_face_top_1"/>
        <origin xyz="0.11111111111111116 -0.1111111111111111 0.501"
                rpy="0 0 0"/>
        <axis xyz="0 0 1"/>
        
    </joint>


    <!-- body_face_top_2 -->
    <link name="body_face_top_2">
        <inertial>
            <origin xyz="0 0 0" rpy="0 0 0"/>
            <mass value="0"/>
            <inertia ixx=".1" ixy=".1" ixz=".1" iyy=".1" iyz=".1" izz=".1"/>
        </inertial>
        <visual>
            <origin xyz="0 0 0" rpy="0 0 0"/>
            <geometry>
                <box size="0.1111111111111111 0.1111111111111111 0.002"/>
            </geometry>
        </visual>
        <collision>
            <origin xyz="0 0 0" rpy="0 0 0"/>
            <geometry>
                <box size="0.1111111111111111 0.1111111111111111 0.002"/>
            </geometry>
        </collision>
    </link>
    <!-- Joint: body, body_face_top_2 -->
    <joint name="body_body_face_top_2_joint" type="fixed">
        <parent link="body"/>
        <child link="body_face_top_2"/>
        <origin xyz="0.2222222222222222 -0.1111111111111111 0.501"
                rpy="0 0 0"/>
        <axis xyz="0 0 1"/>
        
    </joint>


    <!-- body_face_top_3 -->
    <link name="body_face_top_3">
        <inertial>
            <origin xyz="0 0 0" rpy="0 0 0"/>
            <mass value="0"/>
            <inertia ixx=".1" ixy=".1" ixz=".1" iyy=".1" iyz=".1" izz=".1"/>
        </inertial>
        <visual>
            <origin xyz="0 0 0" rpy="0 0 0"/>
            <geometry>
                <box size="0.1111111111111111 0.1111111111111111 0.002"/>
            </geometry>
        </visual>
        <collision>
            <origin xyz="0 0 0" rpy="0 0 0"/>
            <geometry>
                <box size="0.1111111111111111 0.1111111111111111 0.002"/>
            </geometry>
        </collision>
    </link>
    <!-- Joint: body, body_face_top_3 -->
    <joint name="body_body_face_top_3_joint" type="fixed">
        <parent link="body"/>
        <child link="body_face_top_3"/>
        <origin xyz="-0.33333333333333337 0.0 0.501"
                rpy="0 0 0"/>
        <axis xyz="0 0 1"/>
        
    </joint>


    <!-- body_face_top_4 -->
    <link name="body_face_top_4">
        <inertial>
            <origin xyz="0 0 0" rpy="0 0 0"/>
            <mass value="0"/>
            <inertia ixx=".1" ixy=".1" ixz=".1" iyy=".1" iyz=".1" izz=".1"/>
        </inertial>
        <visual>
            <origin xyz="0 0 0" rpy="0 0 0"/>
            <geometry>
                <box size="0.1111111111111111 0.1111111111111111 0.002"/>
            </geometry>
        </visual>
        <collision>
            <origin xyz="0 0 0" rpy="0 0 0"/>
            <geometry>
                <box size="0.1111111111111111 0.1111111111111111 0.002"/>
            </geometry>
        </collision>
    </link>
    <!-- Joint: body, body_face_top_4 -->
    <joint name="body_body_face_top_4_joint" type="fixed">
        <parent link="body"/>
        <child link="body_face_top_4"/>
        <origin xyz="-0.2222222222222222 0.0 0.501"
                rpy="0 0 0"/>
        <axis xyz="0 0 1"/>
        
    </joint>


    <!-- body_face_top_5 -->
    <link name="body_face_top_5">
        <inertial>
            <origin xyz="0 0 0" rpy="0 0 0"/>
            <mass value="0"/>
            <inertia ixx=".1" ixy=".1" ixz=".1" iyy=".1" iyz=".1" izz=".1"/>
        </inertial>
        <visual>
            <origin xyz="0 0 0" rpy="0 0 0"/>
            <geometry>
                <box size="0.1111111111111111 0.1111111111111111 0.002"/>
            </geometry>
        </visual>
        <collision>
            <origin xyz="0 0 0" rpy="0 0 0"/>
            <geometry>
                <box size="0.1111111111111111 0.1111111111111111 0.002"/>
            </geometry>
        </collision>
    </link>
    <!-- Joint: body, body_face_top_5 -->
    <joint name="body_body_face_top_5_joint" type="fixed">
        <parent link="body"/>
        <child link="body_face_top_5"/>
        <origin xyz="-0.1111111111111111 0.0 0.501"
                rpy="0 0 0"/>
        <axis xyz="0 0 1"/>
        
    </joint>


    <!-- body_face_top_6 -->
    <link name="body_face_top_6">
        <inertial>
            <origin xyz="0 0 0" rpy="0 0 0"/>
            <mass value="0"/>
            <inertia ixx=".1" ixy=".1" ixz=".1" iyy=".1" iyz=".1" izz=".1"/>
        </inertial>
        <visual>
            <origin xyz="0 0 0" rpy="0 0 0"/>
            <geometry>
                <box size="0.1111111111111111 0.1111111111111111 0.002"/>
            </geometry>
        </visual>
        <collision>
            <origin xyz="0 0 0" rpy="0 0 0"/>
            <geometry>
                <box size="0.1111111111111111 0.1111111111111111 0.002"/>
            </geometry>
        </collision>
    </link>
    <!-- Joint: body, body_face_top_6 -->
    <joint name="body_body_face_top_6_joint" type="fixed">
        <parent link="body"/>
        <child link="body_face_top_6"/>
        <origin xyz="0.0 0.0 0.501"
                rpy="0 0 0"/>
        <axis xyz="0 0 1"/>
        
    </joint>


    <!-- body_face_top_7 -->
    <link name="body_face_top_7">
        <inertial>
            <origin xyz="0 0 0" rpy="0 0 0"/>
            <mass value="0"/>
            <inertia ixx=".1" ixy=".1" ixz=".1" iyy=".1" iyz=".1" izz=".1"/>
        </inertial>
        <visual>
            <origin xyz="0 0 0" rpy="0 0 0"/>
            <geometry>
                <box size="0.1111111111111111 0.1111111111111111 0.002"/>
            </geometry>
        </visual>
        <collision>
            <origin xyz="0 0 0" rpy="0 0 0"/>
            <geometry>
                <box size="0.1111111111111111 0.1111111111111111 0.002"/>
            </geometry>
        </collision>
    </link>
    <!-- Joint: body, body_face_top_7 -->
    <joint name="body_body_face_top_7_joint" type="fixed">
        <parent link="body"/>
        <child link="body_face_top_7"/>
        <origin xyz="0.11111111111111116 0.0 0.501"
                rpy="0 0 0"/>
        <axis xyz="0 0 1"/>
        
    </joint>


    <!-- body_face_top_8 -->
    <link name="body_face_top_8">
        <inertial>
            <origin xyz="0 0 0" rpy="0 0 0"/>
            <mass value="0"/>
            <inertia ixx=".1" ixy=".1" ixz=".1" iyy=".1" iyz=".1" izz=".1"/>
        </inertial>
        <visual>
            <origin xyz="0 0 0" rpy="0 0 0"/>
            <geometry>
                <box size="0.1111111111111111 0.1111111111111111 0.002"/>
            </geometry>
        </visual>
        <collision>
            <origin xyz="0 0 0" rpy="0 0 0"/>
            <geometry>
                <box size="0.1111111111111111 0.1111111111111111 0.002"/>
            </geometry>
        </collision>
    </link>
    <!-- Joint: body, body_face_top_8 -->
    <joint name="body_body_face_top_8_joint" type="fixed">
        <parent link="body"/>
        <child link="body_face_top_8"/>
        <origin xyz="0.2222222222222222 0.0 0.501"
                rpy="0 0 0"/>
        <axis xyz="0 0 1"/>
        
    </joint>


    <!-- body_face_top_9 -->
    <link name="body_face_top_9">
        <inertial>
            <origin xyz="0 0 0" rpy="0 0 0"/>
            <mass value="0"/>
            <inertia ixx=".1" ixy=".1" ixz=".1" iyy=".1" iyz=".1" izz=".1"/>
        </inertial>
        <visual>
            <origin xyz="0 0 0" rpy="0 0 0"/>
            <geometry>
                <box size="0.1111111111111111 0.1111111111111111 0.002"/>
            </geometry>
        </visual>
        <collision>
            <origin xyz="0 0 0" rpy="0 0 0"/>
            <geometry>
                <box size="0.1111111111111111 0.1111111111111111 0.002"/>
            </geometry>
        </collision>
    </link>
    <!-- Joint: body, body_face_top_9 -->
    <joint name="body_body_face_top_9_joint" type="fixed">
        <parent link="body"/>
        <child link="body_face_top_9"/>
        <origin xyz="0.33333333333333337 0.0 0.501"
                rpy="0 0 0"/>
        <axis xyz="0 0 1"/>
        
    </joint>


    <!-- body_face_top_10 -->
    <link name="body_face_top_10">
        <inertial>
            <origin xyz="0 0 0" rpy="0 0 0"/>
            <mass value="0"/>
            <inertia ixx=".1" ixy=".1" ixz=".1" iyy=".1" iyz=".1" izz=".1"/>
        </inertial>
        <visual>
            <origin xyz="0 0 0" rpy="0 0 0"/>
            <geometry>
                <box size="0.1111111111111111 0.1111111111111111 0.002"/>
            </geometry>
        </visual>
        <collision>
            <origin xyz="0 0 0" rpy="0 0 0"/>
            <geometry>
                <box size="0.1111111111111111 0.1111111111111111 0.002"/>
            </geometry>
        </collision>
    </link>
    <!-- Joint: body, body_face_top_10 -->
    <joint name="body_body_face_top_10_joint" type="fixed">
        <parent link="body"/>
        <child link="body_face_top_10"/>
        <origin xyz="0.11111111111111116 0.11111111111111116 0.501"
                rpy="0 0 0"/>
        <axis xyz="0 0 1"/>
        
    </joint>


    <!-- body_face_top_11 -->
    <link name="body_face_top_11">
        <inertial>
            <origin xyz="0 0 0" rpy="0 0 0"/>
            <mass value="0"/>
            <inertia ixx=".1" ixy=".1" ixz=".1" iyy=".1" iyz=".1" izz=".1"/>
        </inertial>
        <visual>
            <origin xyz="0 0 0" rpy="0 0 0"/>
            <geometry>
                <box size="0.1111111111111111 0.1111111111111111 0.002"/>
            </geometry>
        </visual>
        <collision>
            <origin xyz="0 0 0" rpy="0 0 0"/>
            <geometry>
                <box size="0.1111111111111111 0.1111111111111111 0.002"/>
            </geometry>
        </collision>
    </link>
    <!-- Joint: body, body_face_top_11 -->
    <joint name="body_body_face_top_11_joint" type="fixed">
        <parent link="body"/>
        <child link="body_face_top_11"/>
        <origin xyz="0.2222222222222222 0.11111111111111116 0.501"
                rpy="0 0 0"/>
        <axis xyz="0 0 1"/>
        
    </joint>


    <!-- body_face_top_12 -->
    <link name="body_face_top_12">
        <inertial>
            <origin xyz="0 0 0" rpy="0 0 0"/>
            <mass value="0"/>
            <inertia ixx=".1" ixy=".1" ixz=".1" iyy=".1" iyz=".1" izz=".1"/>
        </inertial>
        <visual>
            <origin xyz="0 0 0" rpy="0 0 0"/>
            <geometry>
                <box size="0.1111111111111111 0.1111111111111111 0.002"/>
            </geometry>
        </visual>
        <collision>
            <origin xyz="0 0 0" rpy="0 0 0"/>
            <geometry>
                <box size="0.1111111111111111 0.1111111111111111 0.002"/>
            </geometry>
        </collision>
    </link>
    <!-- Joint: body, body_face_top_12 -->
    <joint name="body_body_face_top_12_joint" type="fixed">
        <parent link="body"/>
        <child link="body_face_top_12"/>
        <origin xyz="0.11111111111111116 0.2222222222222222 0.501"
                rpy="0 0 0"/>
        <axis xyz="0 0 1"/>
        
    </joint>


</robot>
